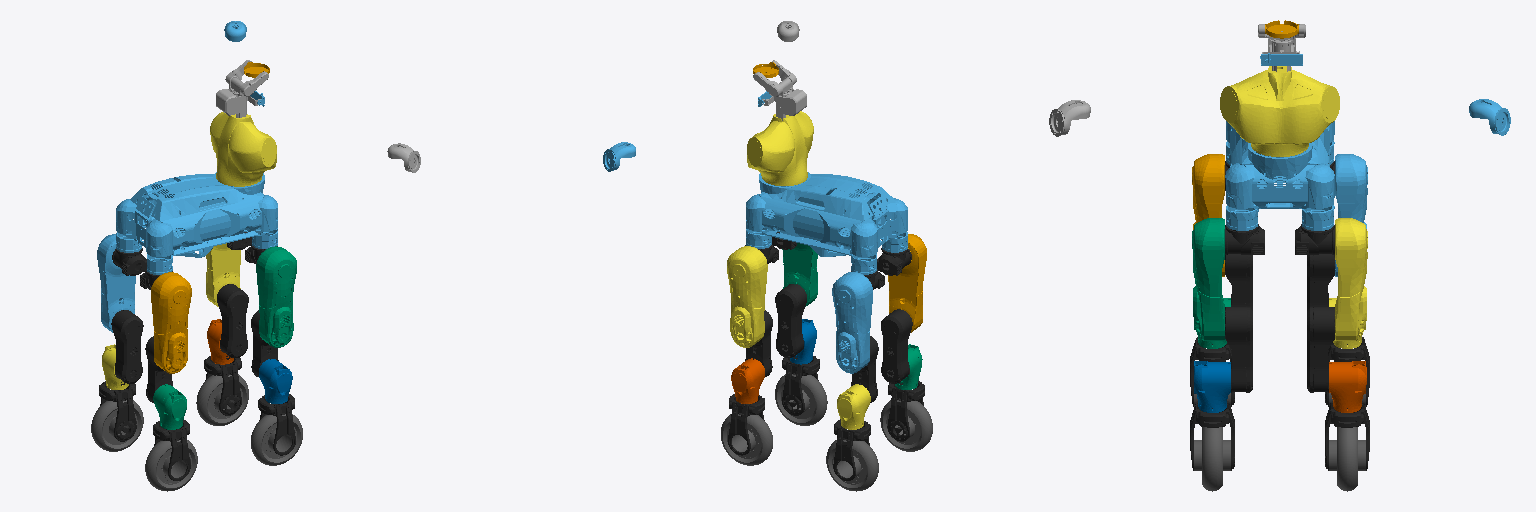
--- What the picture shows (computed from the rendered views, not written in the file) ---
The picture shows the robot from 3 angles, left to right: view 1: azimuth 30°, elevation 25°; view 2: azimuth 150°, elevation 25°; view 3: azimuth 270°, elevation 25°; orthographic projection.
Robot: centauro — 95 links, 94 joints (36 revolute, 4 continuous, 53 fixed, 1 floating); root link world; default pose: joints at zero except 2 at the middle of their limits (j_arm1_2 = 1.73, j_arm2_2 = -1.72).
Visible links, largest first — view 1: pelvis, torso_2, hip2_4, hip2_2, hip2_3, knee_3, knee_1, wheel_4, wheel_2, hip2_1, neck_1, wheel_1 (+13 smaller); view 2: pelvis, torso_2, hip2_1, hip2_3, hip2_4, knee_4, knee_2, wheel_3, wheel_1, hip2_2, neck_1, wheel_4 (+13 smaller); view 3: pelvis, torso_2, hip2_1, hip2_2, knee_1, knee_2, hip2_3, hip2_4, wheel_1, wheel_2, ankle1_1, ankle1_2 (+11 smaller).
Boxes of the visible links, box(x1,y1,x2,y2) form: pelvis: box(116, 172, 277, 274); torso_2: box(210, 112, 276, 186); hip2_4: box(151, 272, 191, 373); hip2_2: box(256, 246, 296, 347); hip2_3: box(97, 234, 135, 332); knee_3: box(111, 310, 143, 383); knee_1: box(217, 284, 248, 357); wheel_4: box(145, 440, 197, 491); wheel_2: box(251, 414, 302, 465); hip2_1: box(206, 243, 240, 306); neck_1: box(216, 60, 268, 117); wheel_1: box(196, 374, 248, 425); pelvis: box(746, 172, 907, 274); torso_2: box(747, 111, 813, 185); hip2_1: box(727, 246, 767, 347); hip2_3: box(832, 272, 872, 373); hip2_4: box(888, 234, 926, 332); knee_4: box(881, 309, 912, 383); knee_2: box(775, 284, 806, 357); wheel_3: box(826, 440, 878, 491); wheel_1: box(721, 414, 772, 465); hip2_2: box(782, 243, 817, 306); neck_1: box(753, 60, 806, 120); wheel_4: box(880, 400, 932, 451); pelvis: box(1225, 121, 1334, 230); torso_2: box(1220, 66, 1339, 156); hip2_1: box(1335, 218, 1367, 340); hip2_2: box(1192, 218, 1224, 340); knee_1: box(1307, 307, 1334, 392); knee_2: box(1225, 307, 1252, 392); hip2_3: box(1335, 154, 1367, 276); hip2_4: box(1192, 154, 1224, 276); wheel_1: box(1329, 427, 1365, 491); wheel_2: box(1194, 427, 1230, 491); ankle1_1: box(1329, 361, 1366, 412); ankle1_2: box(1194, 361, 1230, 412).
Bounding box of the posed robot: 1.02 × 1.52 × 1.7 m (x, y, z).
31 mesh visuals loaded from 25 distinct referenced files (12 binary STL); not drawn: 19 (reference not matched to a file when rendering).

robot.urdf — centauro:
<?xml version="1.0" ?>
<!-- =================================================================================== -->
<!-- |    This document was autogenerated by xacro from centauro.urdf.xacro            | -->
<!-- |    EDITING THIS FILE BY HAND IS NOT RECOMMENDED                                 | -->
<!-- =================================================================================== -->
<robot name="centauro">
  <!-- none, ball, dagana_fixed, dagana -->
  <!-- 
  ROS urdf definition of the CENTAURO humanoid robot by Istituto Italiano di Tecnologia
  
  Author: Enrico Mingo Hoffman
-->
  <!-- scaling facto for available peack torque link side, from 0 to 1 -->
  <material name="black">
    <color rgba="0.4 0.4 0.4 1"/>
  </material>
  <material name="dark">
    <color rgba="0.1 0.1 0.1 1"/>
  </material>
  <material name="dark_grey">
    <color rgba="0.2 0.2 0.2 1"/>
  </material>
  <!-- Note: the "23" suffix denotes the new bigger-size wheel -->
  <!-- ??? -->
  <!-- ??? -->
  <!-- Origin -->
  <!-- <xacro:property name="hip_yaw_lower" value="${[-2.827,-2.583, -2.583 ,-2.827]}"/>
<xacro:property name="hip_yaw_upper" value="${[ 2.583, 2.827,  2.827 , 2.583]}"/> -->
  <link name="base_link"/>
  <link name="pelvis">
    <inertial>
      <origin xyz="-0.0016320207 0.0026534004000000003 0.079167428"/>
      <mass value="26.584529"/>
      <inertia ixx="0.39195477" ixy="0.024781258999999996" ixz="0.017108606999999998" iyy="1.0000708999999999" iyz="0.0052627106000000005" izz="1.0679988999999999"/>
    </inertial>
    <visual>
      <origin rpy="0.0 0.0 0.0" xyz="0.0 0 0.0"/>
      <geometry>
        <mesh filename="package://centauro_urdf/meshes/v2/pelvis.stl" scale="0.001 0.001 0.001"/>
      </geometry>
    </visual>
    <collision>
      <origin rpy="0.0 0.0 0.0" xyz="0.0 0 0.0"/>
      <geometry>
        <mesh filename="package://centauro_urdf/meshes/simple/pelvis.stl" scale="0.001 0.001 0.001"/>
      </geometry>
    </collision>
  </link>
  <link name="imu_link"/>
  <joint name="imu_joint" type="fixed">
    <parent link="pelvis"/>
    <origin rpy="0.0 0.0 0.0" xyz="0.248316 0.0 0.015"/>
    <child link="imu_link"/>
  </joint>
  <joint name="base_joint" type="fixed">
    <parent link="pelvis"/>
    <child link="base_link"/>
    <origin rpy="0 0 0" xyz="0 0 0"/>
  </joint>
  <!-- torso links -->
  <link name="torso_2">
    <inertial>
      <origin xyz="-0.019497794 0.0045317835 0.13768283"/>
      <mass value="12.553731"/>
      <inertia ixx="0.063643392" ixy="8.939e-05" ixz="-0.00086873" iyy="0.02680235" iyz="-4.657e-05" izz="0.04743015"/>
    </inertial>
    <visual>
      <origin rpy="0.0 0.0 0.0" xyz="0.0 0 0.0"/>
      <geometry>
        <mesh filename="package://centauro_urdf/meshes/link1_no_head.stl" scale="0.001 0.001 0.001"/>
      </geometry>
    </visual>
    <collision>
      <origin rpy="0.0 0.0 0.0" xyz="0.0 0 0.0"/>
      <geometry>
        <mesh filename="package://centauro_urdf/meshes/simple/link1_no_head.stl" scale="0.001 0.001 0.001"/>
      </geometry>
    </collision>
  </link>
  <!-- /torso links -->
  <!-- torso joints -->
  <joint name="torso_yaw" type="revolute">
    <parent link="pelvis"/>
    <origin xyz="0.2 0.0 0.256"/>
    <child link="torso_2"/>
    <axis xyz="0 0 1"/>
    <limit effort="147" lower="-2.618" upper="2.618" velocity="5.7"/>
    <!-- TODO -->
  </joint>
  <!-- /torso joints -->
  <!-- /macro arms -->
  <!-- LINKS -->
  <!-- shoulder yaw-roll-->
  <link name="arm1_1">
    <inertial>
      <origin xyz="-0.0074457212 0.03410796 0.00010978102"/>
      <mass value="1.9628675"/>
      <inertia ixx="0.0053547717" ixy="0.00036428926" ixz="1.5089568e-05" iyy="0.0033923328" iyz="5.5692312e-05" izz="0.0068921413"/>
    </inertial>
    <visual>
      <origin rpy="0.0 0.0 0.0" xyz="0.0 0.0 0.0"/>
      <geometry>
        <mesh filename="package://centauro_urdf/meshes/ShoulderPitch.STL" scale="0.001 -0.001 0.001"/>
      </geometry>
      <material name="dark_grey"/>
    </visual>
    <collision>
      <origin rpy="0.0 0.0 0.0" xyz="0.0 0.0 0.0"/>
      <geometry>
        <mesh filename="package://centauro_urdf/meshes/simple/ShoulderPitch.STL" scale="0.001 -0.001 0.001"/>
      </geometry>
    </collision>
  </link>
  <!-- shoulder yaw-roll-->
  <!-- shoulder roll-pitch-->
  <link name="arm1_2">
    <inertial>
      <origin xyz="0.058142302 5.7450803e-05 -0.077477683"/>
      <mass value="1.8595811"/>
      <inertia ixx="0.013776643" ixy="3.7788675e-05" ixz="0.0037690171" iyy="0.015677464" iyz="-9.4893549e-06" izz="0.0046317657"/>
    </inertial>
    <visual>
      <origin rpy="0.0 0.0 0.0" xyz="0.0 0.0 0.0"/>
      <geometry>
        <mesh filename="package://centauro_urdf/meshes/ShoulderRoll.STL" scale="0.001 -0.001 0.001"/>
      </geometry>
    </visual>
    <collision>
      <origin rpy="0.0 0.0 0.0" xyz="0.0 0.0 0.0"/>
      <geometry>
        <mesh filename="package://centauro_urdf/meshes/simple/ShoulderRoll.STL" scale="0.001 -0.001 0.001"/>
      </geometry>
    </collision>
  </link>
  <!-- shoulder roll-pitch-->
  <!-- shoulder-elbow -->
  <link name="arm1_3">
    <inertial>
      <origin xyz="0.014625194 0.0008172672 -0.028333545"/>
      <mass value="1.6678109"/>
      <inertia ixx="0.0064480435" ixy="-0.00015639093" ixz="0.0012205359" iyy="0.0073372077" iyz="8.9941532e-05" izz="0.0036738448"/>
    </inertial>
    <visual>
      <origin rpy="0.0 0.0 0.0" xyz="0.0 0.0 0.0"/>
      <geometry>
        <mesh filename="package://centauro_urdf/meshes/ShoulderYaw.STL" scale="0.001 -0.001 0.001"/>
      </geometry>
      <material name="dark_grey"/>
    </visual>
    <collision>
      <origin rpy="0.0 0.0 0.0" xyz="0.0 0.0 0.0"/>
      <geometry>
        <mesh filename="package://centauro_urdf/meshes/simple/ShoulderYaw.STL" scale="0.001 -0.001 0.001"/>
      </geometry>
    </collision>
  </link>
  <!-- /shoulder-elbow -->
  <!-- elbow yaw-pitch -->
  <link name="arm1_4">
    <inertial>
      <origin xyz="-0.0076833067 -0.040302205 -0.043492779"/>
      <mass value="1.3157289"/>
      <inertia ixx="0.004330394" ixy="-0.00011737391" ixz="-0.00041923199" iyy="0.0038539919" iyz="-0.00079573038" izz="0.0017594689"/>
    </inertial>
    <visual>
      <origin rpy="0.0 0.0 0.0" xyz="0.0 0.0 0.0"/>
      <geometry>
        <mesh filename="package://centauro_urdf/meshes/Elbow.STL" scale="0.001 -0.001 0.001"/>
      </geometry>
    </visual>
    <collision>
      <origin rpy="0.0 0.0 0.0" xyz="0.0 0.0 0.0"/>
      <geometry>
        <mesh filename="package://centauro_urdf/meshes/simple/Elbow.STL" scale="0.001 -0.001 0.001"/>
      </geometry>
    </collision>
  </link>
  <!-- /elbow yaw-pitch -->
  <!-- elbow-wrist -->
  <link name="arm1_5">
    <inertial>
      <origin xyz="-0.00011079615 0.011590836 -0.07816026"/>
      <mass value="1.4908547"/>
      <inertia ixx="0.0085692128" ixy="1.7856252e-05" ixz="1.9379365e-05" iyy="0.0077454159" iyz="-0.00032860094" izz="0.0027441921"/>
    </inertial>
    <visual>
      <origin rpy="0.0 0.0 0.0" xyz="0.0 0.0 0.0"/>
      <geometry>
        <mesh filename="package://centauro_urdf/meshes/Forearm.STL" scale="0.001 -0.001 0.001"/>
      </geometry>
      <material name="dark_grey"/>
    </visual>
    <collision>
      <origin rpy="0.0 0.0 0.0" xyz="0.0 0.0 0.0"/>
      <geometry>
        <mesh filename="package://centauro_urdf/meshes/simple/Forearm.STL" scale="0.001 -0.001 0.001"/>
      </geometry>
    </collision>
  </link>
  <!-- /elbow-wrist -->
  <!-- wrist yaw-pitch -->
  <link name="arm1_6">
    <inertial>
      <origin xyz="-4.6502396e-06 -0.038014094 -0.069926878"/>
      <mass value="1.1263612"/>
      <inertia ixx="0.0051871784" ixy="2.724437e-05" ixz="2.2833496e-06" iyy="0.0048037789" iyz="-0.00072165653" izz="0.0012771388"/>
    </inertial>
    <visual>
      <origin rpy="0.0 0.0 0.0" xyz="0.0 0.0 0.0"/>
      <geometry>
        <mesh filename="package://centauro_urdf/meshes/wrist_pitch_right.stl" scale="0.001 -0.001 0.001"/>
      </geometry>
    </visual>
    <collision>
      <origin rpy="0.0 0.0 0.0" xyz="0.0 0.0 0.0"/>
      <geometry>
        <mesh filename="package://centauro_urdf/meshes/simple/wrist_pitch_right.stl" scale="0.001 -0.001 0.001"/>
      </geometry>
    </collision>
  </link>
  <!-- /wrist yaw-pitch -->
  <!-- <link name="arm${arm_num}_7">
      <inertial>
         <origin xyz="${Wrist_3_x} ${rot*Wrist_3_y} ${Wrist_3_z}"/>
         <mass value="${Wrist_3_mass}"/>
         <inertia ixx="${Wrist_3_xx}" ixy="${rot*Wrist_3_xy}" ixz="${Wrist_3_xz}" iyy="${Wrist_3_yy}" iyz="${rot*Wrist_3_yz}" izz="${Wrist_3_zz}"/>
      </inertial>

      <visual>
         <origin xyz="0.0 0.0 0.0"  rpy="0.0 0.0 0.0"/>
   <geometry>
      <mesh filename="package://centauro_urdf/meshes/ForearmYaw.STL" scale="0.001 ${-rot*0.001} 0.001" />
   </geometry>
         <material name="dark_grey"/>
      </visual>

      <collision>
         <origin xyz="0.0 0.0 0.0"  rpy="0.0 0.0 0.0"/>
   <geometry>
      <mesh filename="package://centauro_urdf/meshes/simple/ForearmYaw.STL" scale="0.001 ${-rot*0.001} 0.001" />
   </geometry>
      </collision>
   </link> -->
  <!-- /LINKS -->
  <!-- JOINTS -->
  <!-- shoulder yaw -->
  <joint name="j_arm1_1" type="revolute">
    <parent link="torso_2"/>
    <child link="arm1_1"/>
    <origin rpy="0.174533 0.0 -0.5235988" xyz="0.0457475 0.169137 0.116626"/>
    <axis xyz="0 1 0"/>
    <limit effort="147.0" lower="-3.312" upper="1.615" velocity="3.86"/>
  </joint>
  <!-- /shoulder yaw -->
  <!-- shoulder roll -->
  <joint name="j_arm1_2" type="revolute">
    <parent link="arm1_1"/>
    <child link="arm1_2"/>
    <origin rpy="-0.1745327 0.0 0.0" xyz="-0.09015 0.062 0.0"/>
    <axis xyz="1 0 0"/>
    <limit effort="147.0" lower="0.02" upper="3.431" velocity="3.86"/>
  </joint>
  <!-- /shoulder roll -->
  <!-- shoulder pitch-->
  <joint name="j_arm1_3" type="revolute">
    <parent link="arm1_2"/>
    <child link="arm1_3"/>
    <origin xyz="0.09015 0.0 -0.21815"/>
    <axis xyz="0 0 1"/>
    <limit effort="147.0" lower="-2.552" upper="2.566" velocity="6.06"/>
  </joint>
  <!-- /shoulder pitch -->
  <!-- elbow yaw -->
  <joint name="j_arm1_4" type="revolute">
    <parent link="arm1_3"/>
    <child link="arm1_4"/>
    <origin xyz="0.045 0.05515 -0.074"/>
    <axis xyz="0 1 0"/>
    <limit effort="147.0" lower="-2.465" upper="0.28" velocity="6.06"/>
  </joint>
  <!-- /elbow yaw -->
  <!-- elbow pitch-->
  <joint name="j_arm1_5" type="revolute">
    <parent link="arm1_4"/>
    <child link="arm1_5"/>
    <origin xyz="-0.015 -0.05515 -0.095"/>
    <axis xyz="0 0 1"/>
    <limit effort="55.0" lower="-2.569" upper="2.562" velocity="11.72"/>
  </joint>
  <!-- /elbow pitch-->
  <!-- wrist yaw-->
  <joint name="j_arm1_6" type="revolute">
    <parent link="arm1_5"/>
    <child link="arm1_6"/>
    <origin xyz="0.0 0.049 -0.156"/>
    <axis xyz="0 1 0"/>
    <limit effort="55.0" lower="-1.529" upper="1.509" velocity="11.72"/>
  </joint>
  <!-- /wrist yaw-->
  <!-- wrist pitch-->
  <!-- <joint name="j_arm${arm_num}_7" type="fixed">
      <parent link="arm${arm_num}_6"/>
      <child link="arm${arm_num}_7"/>
      <origin xyz="${Wrist_3_Ox} ${rot*Wrist_3_Oy} ${Wrist_3_Oz}"/>
      <axis xyz="0 0 1"/>
      <limit lower="${j_arm_7_lower[arm_num-1]}" upper="${j_arm_7_upper[arm_num-1]}" effort="${j_arm_7_torque[arm_num-1]}" velocity="${j_arm_7_velocity[arm_num-1]}"/>
   </joint> -->
  <!-- wrist pitch-->
  <!-- force-troque sensor -->
  <!-- end-effector -->
  <!-- wrist pitch-->
  <!-- <joint name="j_ft_${arm_num}" type="fixed">
      <parent link="arm${arm_num}_7"/>
      <child link="ft_arm${arm_num}"/>
      <origin xyz="${Ft_arm_Ox} ${Ft_arm_Oy} ${Ft_arm_Oz}" rpy="${Ft_arm_roll} ${Ft_arm_pitch} ${Ft_arm_yaw}" />
      <axis xyz="0 0 1"/>
      <limit lower="0.0" upper="0.0" effort="0" velocity="0"/>
   </joint> -->
  <!-- wrist pitch-->
  <!-- <link name="ft_arm${arm_num}">
      <inertial>
         <origin xyz="${Ft_arm_x} ${rot*Ft_arm_y} ${Ft_arm_z}"/>
         <mass value="${Ft_arm_mass}"/>
         <inertia ixx="${Ft_arm_xx}" ixy="${rot*Ft_arm_xy}" ixz="${Ft_arm_xz}" iyy="${Ft_arm_yy}" iyz="${rot*Ft_arm_yz}" izz="${Ft_arm_zz}"/>
      </inertial> -->
  <!--visual>
         <origin xyz="0.0 0.0 0.0"  rpy="${PI} 0.0 0.0"/>
   <geometry>
      <mesh filename="package://centauro_urdf/meshes/Wrist.STL" scale="0.001 ${-rot*0.001} 0.001" />
   </geometry>
      </visual-->
  <!--collision>
         <origin xyz="0.0 0.0 0.0"  rpy="${PI} 0.0 0.0"/>
   <geometry>
      <mesh filename="package://centauro_urdf/meshes/simple/Wrist.STL" scale="0.001 ${-rot*0.001} 0.001" />
   </geometry>
      </collision-->
  <!-- </link> -->
  <!-- LINKS -->
  <!-- shoulder yaw-roll-->
  <link name="arm2_1">
    <inertial>
      <origin xyz="-0.0074457212 -0.03410796 0.00010978102"/>
      <mass value="1.9628675"/>
      <inertia ixx="0.0053547717" ixy="-0.00036428926" ixz="1.5089568e-05" iyy="0.0033923328" iyz="-5.5692312e-05" izz="0.0068921413"/>
    </inertial>
    <visual>
      <origin rpy="0.0 0.0 0.0" xyz="0.0 0.0 0.0"/>
      <geometry>
        <mesh filename="package://centauro_urdf/meshes/ShoulderPitch.STL" scale="0.001 0.001 0.001"/>
      </geometry>
      <material name="dark_grey"/>
    </visual>
    <collision>
      <origin rpy="0.0 0.0 0.0" xyz="0.0 0.0 0.0"/>
      <geometry>
        <mesh filename="package://centauro_urdf/meshes/simple/ShoulderPitch.STL" scale="0.001 0.001 0.001"/>
      </geometry>
    </collision>
  </link>
  <!-- shoulder yaw-roll-->
  <!-- shoulder roll-pitch-->
  <link name="arm2_2">
    <inertial>
      <origin xyz="0.058142302 -5.7450803e-05 -0.077477683"/>
      <mass value="1.8595811"/>
      <inertia ixx="0.013776643" ixy="-3.7788675e-05" ixz="0.0037690171" iyy="0.015677464" iyz="9.4893549e-06" izz="0.0046317657"/>
    </inertial>
    <visual>
      <origin rpy="0.0 0.0 0.0" xyz="0.0 0.0 0.0"/>
      <geometry>
        <mesh filename="package://centauro_urdf/meshes/ShoulderRoll.STL" scale="0.001 0.001 0.001"/>
      </geometry>
    </visual>
    <collision>
      <origin rpy="0.0 0.0 0.0" xyz="0.0 0.0 0.0"/>
      <geometry>
        <mesh filename="package://centauro_urdf/meshes/simple/ShoulderRoll.STL" scale="0.001 0.001 0.001"/>
      </geometry>
    </collision>
  </link>
  <!-- shoulder roll-pitch-->
  <!-- shoulder-elbow -->
  <link name="arm2_3">
    <inertial>
      <origin xyz="0.014625194 -0.0008172672 -0.028333545"/>
      <mass value="1.6678109"/>
      <inertia ixx="0.0064480435" ixy="0.00015639093" ixz="0.0012205359" iyy="0.0073372077" iyz="-8.9941532e-05" izz="0.0036738448"/>
    </inertial>
    <visual>
      <origin rpy="0.0 0.0 0.0" xyz="0.0 0.0 0.0"/>
      <geometry>
        <mesh filename="package://centauro_urdf/meshes/ShoulderYaw.STL" scale="0.001 0.001 0.001"/>
      </geometry>
      <material name="dark_grey"/>
    </visual>
    <collision>
      <origin rpy="0.0 0.0 0.0" xyz="0.0 0.0 0.0"/>
      <geometry>
        <mesh filename="package://centauro_urdf/meshes/simple/ShoulderYaw.STL" scale="0.001 0.001 0.001"/>
      </geometry>
    </collision>
  </link>
  <!-- /shoulder-elbow -->
  <!-- elbow yaw-pitch -->
  <link name="arm2_4">
    <inertial>
      <origin xyz="-0.0076833067 0.040302205 -0.043492779"/>
      <mass value="1.3157289"/>
      <inertia ixx="0.004330394" ixy="0.00011737391" ixz="-0.00041923199" iyy="0.0038539919" iyz="0.00079573038" izz="0.0017594689"/>
    </inertial>
    <visual>
      <origin rpy="0.0 0.0 0.0" xyz="0.0 0.0 0.0"/>
      <geometry>
        <mesh filename="package://centauro_urdf/meshes/Elbow.STL" scale="0.001 0.001 0.001"/>
      </geometry>
    </visual>
    <collision>
      <origin rpy="0.0 0.0 0.0" xyz="0.0 0.0 0.0"/>
      <geometry>
        <mesh filename="package://centauro_urdf/meshes/simple/Elbow.STL" scale="0.001 0.001 0.001"/>
      </geometry>
    </collision>
  </link>
  <!-- /elbow yaw-pitch -->
  <!-- elbow-wrist -->
  <link name="arm2_5">
    <inertial>
      <origin xyz="-0.00011079615 -0.011590836 -0.07816026"/>
      <mass value="1.4908547"/>
      <inertia ixx="0.0085692128" ixy="-1.7856252e-05" ixz="1.9379365e-05" iyy="0.0077454159" iyz="0.00032860094" izz="0.0027441921"/>
    </inertial>
    <visual>
      <origin rpy="0.0 0.0 0.0" xyz="0.0 0.0 0.0"/>
      <geometry>
        <mesh filename="package://centauro_urdf/meshes/Forearm.STL" scale="0.001 0.001 0.001"/>
      </geometry>
      <material name="dark_grey"/>
    </visual>
    <collision>
      <origin rpy="0.0 0.0 0.0" xyz="0.0 0.0 0.0"/>
      <geometry>
        <mesh filename="package://centauro_urdf/meshes/simple/Forearm.STL" scale="0.001 0.001 0.001"/>
      </geometry>
    </collision>
  </link>
  <!-- /elbow-wrist -->
  <!-- wrist yaw-pitch -->
  <link name="arm2_6">
    <inertial>
      <origin xyz="-4.6502396e-06 0.038014094 -0.069926878"/>
      <mass value="1.1263612"/>
      <inertia ixx="0.0051871784" ixy="-2.724437e-05" ixz="2.2833496e-06" iyy="0.0048037789" iyz="0.00072165653" izz="0.0012771388"/>
    </inertial>
    <visual>
      <origin rpy="0.0 0.0 0.0" xyz="0.0 0.0 0.0"/>
      <geometry>
        <mesh filename="package://centauro_urdf/meshes/wrist_pitch_right.stl" scale="0.001 0.001 0.001"/>
      </geometry>
    </visual>
    <collision>
      <origin rpy="0.0 0.0 0.0" xyz="0.0 0.0 0.0"/>
      <geometry>
        <mesh filename="package://centauro_urdf/meshes/simple/wrist_pitch_right.stl" scale="0.001 0.001 0.001"/>
      </geometry>
    </collision>
  </link>
  <!-- /wrist yaw-pitch -->
  <!-- <link name="arm${arm_num}_7">
      <inertial>
         <origin xyz="${Wrist_3_x} ${rot*Wrist_3_y} ${Wrist_3_z}"/>
         <mass value="${Wrist_3_mass}"/>
         <inertia ixx="${Wrist_3_xx}" ixy="${rot*Wrist_3_xy}" ixz="${Wrist_3_xz}" iyy="${Wrist_3_yy}" iyz="${rot*Wrist_3_yz}" izz="${Wrist_3_zz}"/>
      </inertial>

      <visual>
         <origin xyz="0.0 0.0 0.0"  rpy="0.0 0.0 0.0"/>
   <geometry>
      <mesh filename="package://centauro_urdf/meshes/ForearmYaw.STL" scale="0.001 ${-rot*0.001} 0.001" />
   </geometry>
         <material name="dark_grey"/>
      </visual>

      <collision>
         <origin xyz="0.0 0.0 0.0"  rpy="0.0 0.0 0.0"/>
   <geometry>
      <mesh filename="package://centauro_urdf/meshes/simple/ForearmYaw.STL" scale="0.001 ${-rot*0.001} 0.001" />
   </geometry>
      </collision>
   </link> -->
  <!-- /LINKS -->
  <!-- JOINTS -->
  <!-- shoulder yaw -->
  <joint name="j_arm2_1" type="revolute">
    <parent link="torso_2"/>
    <child link="arm2_1"/>
    <origin rpy="-0.174533 0.0 0.5235988" xyz="0.0457475 -0.169137 0.116626"/>
    <axis xyz="0 1 0"/>
    <limit effort="147.0" lower="-3.3458" upper="1.6012" velocity="3.86"/>
  </joint>
  <!-- /shoulder yaw -->
  <!-- shoulder roll -->
  <joint name="j_arm2_2" type="revolute">
    <parent link="arm2_1"/>
    <child link="arm2_2"/>
    <origin rpy="0.1745327 0.0 0.0" xyz="-0.09015 -0.062 0.0"/>
    <axis xyz="1 0 0"/>
    <limit effort="147.0" lower="-3.4258" upper="-0.0138" velocity="3.86"/>
  </joint>
  <!-- /shoulder roll -->
  <!-- shoulder pitch-->
  <joint name="j_arm2_3" type="revolute">
    <parent link="arm2_2"/>
    <child link="arm2_3"/>
    <origin xyz="0.09015 0.0 -0.21815"/>
    <axis xyz="0 0 1"/>
    <limit effort="147.0" lower="-2.5614" upper="2.5606" velocity="6.06"/>
  </joint>
  <!-- /shoulder pitch -->
  <!-- elbow yaw -->
  <joint name="j_arm2_4" type="revolute">
    <parent link="arm2_3"/>
    <child link="arm2_4"/>
    <origin xyz="0.045 -0.05515 -0.074"/>
    <axis xyz="0 1 0"/>
    <limit effort="147.0" lower="-2.4794" upper="0.2886" velocity="6.06"/>
  </joint>
  <!-- /elbow yaw -->
  <!-- elbow pitch-->
  <joint name="j_arm2_5" type="revolute">
    <parent link="arm2_4"/>
    <child link="arm2_5"/>
    <origin xyz="-0.015 0.05515 -0.095"/>
    <axis xyz="0 0 1"/>
    <limit effort="55.0" lower="-2.5394" upper="2.5546" velocity="11.72"/>
  </joint>
  <!-- /elbow pitch-->
  <!-- wrist yaw-->
  <joint name="j_arm2_6" type="revolute">
    <parent link="arm2_5"/>
    <child link="arm2_6"/>
    <origin xyz="0.0 -0.049 -0.156"/>
    <axis xyz="0 1 0"/>
    <limit effort="55.0" lower="-1.5154" upper="1.5156" velocity="11.72"/>
  </joint>
  <!-- /wrist yaw-->
  <!-- wrist pitch-->
  <!-- <joint name="j_arm${arm_num}_7" type="fixed">
      <parent link="arm${arm_num}_6"/>
      <child link="arm${arm_num}_7"/>
      <origin xyz="${Wrist_3_Ox} ${rot*Wrist_3_Oy} ${Wrist_3_Oz}"/>
      <axis xyz="0 0 1"/>
      <limit lower="${j_arm_7_lower[arm_num-1]}" upper="${j_arm_7_upper[arm_num-1]}" effort="${j_arm_7_torque[arm_num-1]}" velocity="${j_arm_7_velocity[arm_num-1]}"/>
   </joint> -->
  <!-- wrist pitch-->
  <!-- force-troque sensor -->
  <!-- end-effector -->
  <!-- wrist pitch-->
  <!-- <joint name="j_ft_${arm_num}" type="fixed">
      <parent link="arm${arm_num}_7"/>
      <child link="ft_arm${arm_num}"/>
      <origin xyz="${Ft_arm_Ox} ${Ft_arm_Oy} ${Ft_arm_Oz}" rpy="${Ft_arm_roll} ${Ft_arm_pitch} ${Ft_arm_yaw}" />
      <axis xyz="0 0 1"/>
      <limit lower="0.0" upper="0.0" effort="0" velocity="0"/>
   </joint> -->
  <!-- wrist pitch-->
  <!-- <link name="ft_arm${arm_num}">
      <inertial>
         <origin xyz="${Ft_arm_x} ${rot*Ft_arm_y} ${Ft_arm_z}"/>
         <mass value="${Ft_arm_mass}"/>
         <inertia ixx="${Ft_arm_xx}" ixy="${rot*Ft_arm_xy}" ixz="${Ft_arm_xz}" iyy="${Ft_arm_yy}" iyz="${rot*Ft_arm_yz}" izz="${Ft_arm_zz}"/>
      </inertial> -->
  <!--visual>
         <origin xyz="0.0 0.0 0.0"  rpy="${PI} 0.0 0.0"/>
   <geometry>
      <mesh filename="package://centauro_urdf/meshes/Wrist.STL" scale="0.001 ${-rot*0.001} 0.001" />
   </geometry>
      </visual-->
  <!--collision>
         <origin xyz="0.0 0.0 0.0"  rpy="${PI} 0.0 0.0"/>
   <geometry>
      <mesh filename="package://centauro_urdf/meshes/simple/Wrist.STL" scale="0.001 ${-rot*0.001} 0.001" />
   </geometry>
      </collision-->
  <!-- </link> -->
  <link name="ball1">
    <inertial>
      <origin rpy="0 0 0" xyz="-1.0072498e-05 3.7590658e-05 0.019772332"/>
      <mass value="1.27"/>
      <inertia ixx="0.0023061092" ixy="2.9181758e-07" ixz="-2.1246683999999997e-07" iyy="0.0023053155000000002" iyz="7.9290978e-07" izz="0.0030675615999999997"/>
    </inertial>
    <visual>
      <origin rpy="0.0 0.0 0.0" xyz="0.0 0.0 0.0"/>
      <geometry name="ball1_visual">
        <mesh filename="package://centauro_urdf/meshes/BallHand.stl" scale="0.001 0.001 0.001"/>
      </geometry>
      <material name="dark_grey"/>
    </visual>
    <collision>
      <origin rpy="0.0 0.0 0.0" xyz="0.0 0.0 0.0"/>
      <geometry name="ball1_collision">
        <mesh filename="package://centauro_urdf/meshes/simple/BallHand.stl" scale="0.001 0.001 0.001"/>
      </geometry>
    </collision>
  </link>
  <link name="ball1_tip"/>
  <joint name="j_arm1_8" type="fixed">
    <parent link="arm1_6"/>
    <child link="ball1"/>
    <origin rpy="0. 0. 0." xyz="0. -0.05 -0.105"/>
  </joint>
  <joint name="j_ball1_tip" type="fixed">
    <parent link="ball1"/>
    <child link="ball1_tip"/>
    <origin rpy="0 0 0" xyz="0 0 -0.07"/>
  </joint>
  <!-- add armX_8 link for legacy reasons (same as ballX) -->
  <joint name="j_ball1_fixed" type="fixed">
    <parent link="ball1"/>
    <child link="arm1_8"/>
  </joint>
  <link name="arm1_8">
    <inertial>
      <mass value="0"/>
      <inertia ixx="0" ixy="0" ixz="0" iyy="0" iyz="0" izz="0"/>
    </inertial>
  </link>
  <joint name="dagana_2_mount_joint" type="fixed">
    <origin rpy="0. 3.14159265359 0" xyz="0. 0.05 -0.08"/>
    <parent link="arm2_6"/>
    <child link="dagana_2_top_link"/>
  </joint>
  <link name="dagana_2_top_link">
    <inertial>
      <origin rpy="0 0 0" xyz="-0.0063562154 -0.0060265532000000005  0.060068288000000004"/>
      <mass value="1.7432400"/>
      <inertia ixx="0.0050510328" ixy="-0.00025264216" ixz="-0.00012103013" iyy="0.0047944612" iyz="-0.00073917704" izz="0.0031156997"/>
    </inertial>
    <visual>
      <origin rpy="0 0 0" xyz="0 0 0"/>
      <geometry>
        <mesh filename="package://dagana_urdf/meshes/dg0001-simplified.stl" scale="0.001 0.001 0.001"/>
      </geometry>
      <material name="dark_grey"/>
    </visual>
    <collision>
      <origin rpy="0 0 0" xyz="0 0 0"/>
      <geometry>
        <mesh filename="package://dagana_urdf/meshes/dg0001-ch.stl" scale="0.001 0.001 0.001"/>
      </geometry>
      <material name="dark_grey"/>
    </collision>
  </link>
  <joint name="dagana_2_claw_joint" type="revolute">
    <origin rpy="1.57079632679 0 3.14159265359" xyz="0.0 -0.028 0.05025"/>
    <parent link="dagana_2_top_link"/>
    <child link="dagana_2_bottom_link"/>
    <axis xyz="-1 0 0"/>
    <limit effort="1000" lower="0" upper="1.3" velocity="10.0"/>
  </joint>
  <link name="dagana_2_bottom_link">
    <inertial>
      <origin rpy="0 0 0" xyz="0 0.069644767 0"/>
      <mass value="4.6117745e-01"/>
      <inertia ixx="0.0014726990999999999" ixy="7.134683e-05" ixz="2.529065e-06" iyy="0.0009385556899999999" iyz="-0.000264452" izz="0.0019472731"/>
    </inertial>
    <visual>
      <origin rpy="0 0 0" xyz="0 0 0"/>
      <geometry>
        <mesh filename="package://dagana_urdf/meshes/dg0002.stl" scale="0.001 0.001 0.001"/>
      </geometry>
      <material name="dark_grey"/>
    </visual>
    <collision>
      <origin rpy="0 0 0" xyz="0 0 0"/>
      <geometry>
        <mesh filename="package://dagana_urdf/meshes/dg0002-ch.stl" scale="0.001 0.001 0.001"/>
      </geometry>
      <material name="dark_grey"/>
    </collision>
  </link>
  <!-- Manually put to have a transform in a "good" grasping spot-->
  <joint name="dagana_2_tcp_joint" type="fixed">
    <origin rpy="0 0 0" xyz="0 -0.05 0.15"/>
    <parent link="dagana_2_top_link"/>
    <child link="dagana_2_tcp"/>
  </joint>
  <link name="dagana_2_tcp"/>
  <!-- add armX_8 link for compliance with srdf file -->
  <joint name="j_dagana_2_final" type="fixed">
    <parent link="dagana_2_bottom_link"/>
    <child link="arm2_8"/>
  </joint>
  <link name="arm2_8">
    <inertial>
      <mass value="0"/>
      <inertia ixx="0" ixy="0" ixz="0" iyy="0" iyz="0" izz="0"/>
    </inertial>
  </link>
  <!-- LINKS -->
  <link name="neck_1">
    <inertial>
      <origin xyz="0 0 0"/>
      <mass value="0.33878686"/>
      <!-- MASS/INERTIA TO DO -->
      <inertia ixx="0.0003718568" ixy="-9.42983e-05" ixz="-2.80644e-05" iyy="0.0001886879" iyz="-1.54534e-05" izz="0.0005023443"/>
    </inertial>
    <visual>
      <origin rpy="0.0 0.0 0.0" xyz="0.0 0 0.0"/>
      <geometry>
        <mesh filename="package://centauro_urdf/meshes/head-base_mesh.stl" scale="0.001 0.001 0.001"/>
      </geometry>
    </visual>
    <collision>
      <origin rpy="0.0 0.0 0.0" xyz="0.0 0 0.0"/>
      <geometry>
        <mesh filename="package://centauro_urdf/meshes/simple/head-base_mesh.stl" scale="0.001 0.001 0.001"/>
      </geometry>
    </collision>
  </link>
  <link name="velodyne_motor">
    <inertial>
      <origin xyz="0 0 0"/>
      <mass value="0.33878686"/>
      <!-- MASS/INERTIA TO DO -->
      <inertia ixx="0.0003718568" ixy="-9.42983e-05" ixz="-2.80644e-05" iyy="0.0001886879" iyz="-1.54534e-05" izz="0.0005023443"/>
    </inertial>
    <visual>
      <origin rpy="0.0 0.0 0.0" xyz="0.0 0 0.0"/>
      <geometry>
        <mesh filename="package://centauro_urdf/meshes/lidar_mesh.stl" scale="0.001 0.001 0.001"/>
      </geometry>
    </visual>
    <collision>
      <origin rpy="0.0 0.0 0.0" xyz="0.0 0 0.0"/>
      <geometry>
        <mesh filename="package://centauro_urdf/meshes/simple/lidar_mesh.stl" scale="0.001 0.001 0.001"/>
      </geometry>
    </collision>
  </link>
  <link name="d435_head_motor">
    <inertial>
      <origin xyz="0 0 0"/>
      <mass value="0.33878686"/>
      <!-- MASS/INERTIA TO DO -->
      <inertia ixx="0.0003718568" ixy="-9.42983e-05" ixz="-2.80644e-05" iyy="0.0001886879" iyz="-1.54534e-05" izz="0.0005023443"/>
    </inertial>
    <visual>
      <origin rpy="0.0 0.0 0.0" xyz="0.0 0 0.0"/>
      <geometry>
        <mesh filename="package://centauro_urdf/meshes/neck-pitch_mesh.stl" scale="0.001 0.001 0.001"/>
      </geometry>
    </visual>
    <collision>
      <origin rpy="0.0 0.0 0.0" xyz="0.0 0 0.0"/>
      <geometry>
        <mesh filename="package://centauro_urdf/meshes/simple/neck-pitch_mesh.stl" scale="0.001 0.001 0.001"/>
      </geometry>
    </collision>
  </link>
  <!--JOINTS -->
  <joint name="neck_base" type="fixed">
    <parent link="torso_2"/>
    <origin rpy="0 0 0" xyz="0.0030637045 0.0061607221 0.158"/>
    <child link="neck_1"/>
    <axis xyz="0 0 1"/>
  </joint>
  <joint name="velodyne_joint" type="revolute">
    <parent link="neck_1"/>
    <origin rpy="0 0 0" xyz="0.0822724 0 0.242"/>
    <child link="velodyne_motor"/>
    <axis xyz="0 -1 0"/>
    <limit effort="35" lower="-1.1" upper="1.1" velocity="5.7"/>
    <dynamics friction="10.0"/>
  </joint>
  <joint name="d435_head_joint" type="revolute">
    <parent link="neck_1"/>
    <origin rpy="0 0 0" xyz="0.06 0 0.1375"/>
    <child link="d435_head_motor"/>
    <axis xyz="0 -1 0"/>
    <limit effort="35" lower="-1.1" upper="1.1" velocity="5.7"/>
    <dynamics friction="10.0"/>
  </joint>
  <material name="D435_head_camera_aluminum">
    <color rgba="0.5 0.5 0.5 1"/>
  </material>
  <!-- camera body, with origin at bottom screw mount -->
  <joint name="D435_head_camera_joint" type="fixed">
    <origin xyz="0.0413 0 -0.016" rpy="0 0.349065 0"/>	<!-- camera mounted on 3d printed 20 deg angle -->
    <parent link="d435_head_motor"/>
    <child link="D435_head_camera_bottom_screw_frame"/>
  </joint>
  <link name="D435_head_camera_bottom_screw_frame"/>
  <joint name="D435_head_camera_link_joint" type="fixed">
    <origin rpy="0 0 0" xyz="0 0.0175 0.0125"/>
    <parent link="D435_head_camera_bottom_screw_frame"/>
    <child link="D435_head_camera_link"/>
  </joint>
  <link name="D435_head_camera_link">
    <visual>
      <origin rpy="1.5707963267948966 0 1.5707963267948966" xyz="0.0149 -0.0175 0"/>
      <geometry>
        <!-- <box size="${d435i_cam_width} ${d435i_cam_height} ${d435i_cam_depth}"/> -->
        <mesh filename="package://realsense2_description/meshes/d435.dae"/>
        <!--<mesh filename="package://realsense2_description/meshes/d435/d435.dae"/>-->
      </geometry>
      <material name="D435_head_camera_aluminum"/>
    </visual>
    <collision>
      <origin rpy="0 0 0" xyz="0 -0.0175 0"/>
      <geometry>
        <box size="0.02505 0.09 0.025"/>
      </geometry>
    </collision>
    <inertial>
      <!-- The following are not reliable values, and should not be used for modeling -->
      <mass value="0.564"/>
      <origin xyz="0 0 0"/>
      <inertia ixx="0.003881243" ixy="0.0" ixz="0.0" iyy="0.000498940" iyz="0.0" izz="0.003879257"/>
    </inertial>
  </link>
  <!-- camera depth joints and links -->
  <joint name="D435_head_camera_depth_joint" type="fixed">
    <origin rpy="0 0 0" xyz="0 0 0"/>
    <parent link="D435_head_camera_link"/>
    <child link="D435_head_camera_depth_frame"/>
  </joint>
  <link name="D435_head_camera_depth_frame"/>
  <joint name="D435_head_camera_depth_optical_joint" type="fixed">
    <origin rpy="-1.5707963267948966 0 -1.5707963267948966" xyz="0 0 0"/>
    <parent link="D435_head_camera_depth_frame"/>
    <child link="D435_head_camera_depth_optical_frame"/>
  </joint>
  <link name="D435_head_camera_depth_optical_frame"/>
  <!-- camera left IR joints and links -->
  <joint name="D435_head_camera_left_ir_joint" type="fixed">
    <origin rpy="0 0 0" xyz="0 0.0 0"/>
    <parent link="D435_head_camera_depth_frame"/>
    <child link="D435_head_camera_left_ir_frame"/>
  </joint>
  <link name="D435_head_camera_left_ir_frame"/>
  <joint name="D435_head_camera_left_ir_optical_joint" type="fixed">
    <origin rpy="-1.5707963267948966 0 -1.5707963267948966" xyz="0 0 0"/>
    <parent link="D435_head_camera_left_ir_frame"/>
    <child link="D435_head_camera_left_ir_optical_frame"/>
  </joint>
  <link name="D435_head_camera_left_ir_optical_frame"/>
  <!-- camera right IR joints and links -->
  <joint name="D435_head_camera_right_ir_joint" type="fixed">
    <origin rpy="0 0 0" xyz="0 -0.05 0"/>
    <parent link="D435_head_camera_depth_frame"/>
    <child link="D435_head_camera_right_ir_frame"/>
  </joint>
  <link name="D435_head_camera_right_ir_frame"/>
  <joint name="D435_head_camera_right_ir_optical_joint" type="fixed">
    <origin rpy="-1.5707963267948966 0 -1.5707963267948966" xyz="0 0 0"/>
    <parent link="D435_head_camera_right_ir_frame"/>
    <child link="D435_head_camera_right_ir_optical_frame"/>
  </joint>
  <link name="D435_head_camera_right_ir_optical_frame"/>
  <!-- camera color joints and links -->
  <joint name="D435_head_camera_color_joint" type="fixed">
    <origin rpy="0 0 0" xyz="0 0.015 0"/>
    <parent link="D435_head_camera_depth_frame"/>
    <child link="D435_head_camera_color_frame"/>
  </joint>
  <link name="D435_head_camera_color_frame"/>
  <joint name="D435_head_camera_color_optical_joint" type="fixed">
    <origin rpy="-1.5707963267948966 0 -1.5707963267948966" xyz="0 0 0"/>
    <parent link="D435_head_camera_color_frame"/>
    <child link="D435_head_camera_color_optical_frame"/>
  </joint>
  <link name="D435_head_camera_color_optical_frame"/>
  <!-- camera accel joints and links -->
  <joint name="D435_head_camera_accel_joint" type="fixed">
    <origin rpy="0 0 0" xyz="-0.00174 0.00552 0.0176"/>
    <parent link="D435_head_camera_link"/>
    <child link="D435_head_camera_accel_frame"/>
  </joint>
  <link name="D435_head_camera_accel_frame"/>
  <joint name="D435_head_camera_accel_optical_joint" type="fixed">
    <origin rpy="-1.5707963267948966 0 -1.5707963267948966" xyz="0 0 0"/>
    <parent link="D435_head_camera_accel_frame"/>
    <child link="D435_head_camera_accel_optical_frame"/>
  </joint>
  <link name="D435_head_camera_accel_optical_frame"/>
  <!-- camera gyro joints and links -->
  <joint name="D435_head_camera_gyro_joint" type="fixed">
    <origin rpy="0 0 0" xyz="-0.00174 0.00552 0.0176"/>
    <parent link="D435_head_camera_link"/>
    <child link="D435_head_camera_gyro_frame"/>
  </joint>
  <link name="D435_head_camera_gyro_frame"/>
  <joint name="D435_head_camera_gyro_optical_joint" type="fixed">
    <origin rpy="-1.5707963267948966 0 -1.5707963267948966" xyz="0 0 0"/>
    <parent link="D435_head_camera_gyro_frame"/>
    <child link="D435_head_camera_gyro_optical_frame"/>
  </joint>
  <link name="D435_head_camera_gyro_optical_frame"/>
  <gazebo reference="D435_head_camera_link">
    <self_collide>0</self_collide>
    <enable_wind>0</enable_wind>
    <kinematic>0</kinematic>
    <!-- <gravity>1</gravity> -->
    <!--<mu>1</mu>-->
    <mu2>1</mu2>
    <fdir1>0 0 0</fdir1>
    <!--<slip1>0</slip1>
      <slip2>0</slip2>-->
    <kp>1e+13</kp>
    <kd>1</kd>
    <!--<max_vel>0.01</max_vel>
      <min_depth>0</min_depth>-->
    <sensor name="D435_head_cameracolor" type="camera">
      <camera name="D435_head_camera">
        <horizontal_fov>1.2112585008840648</horizontal_fov>
        <image>
          <width>1280</width>
          <height>720</height>
          <format>RGB_INT8</format>
        </image>
        <clip>
          <near>0.1</near>
          <far>100</far>
        </clip>
        <noise>
          <type>gaussian</type>
          <mean>0.0</mean>
          <stddev>0.007</stddev>
        </noise>
      </camera>
      <always_on>1</always_on>
      <update_rate>30</update_rate>
      <visualize>False</visualize>
    </sensor>
    <sensor name="D435_head_cameraired1" type="camera">
      <camera name="D435_head_camera">
        <horizontal_fov>1.4870205226991688</horizontal_fov>
        <image>
          <width>1280</width>
          <height>720</height>
          <format>L_INT8</format>
        </image>
        <clip>
          <near>0.1</near>
          <far>100</far>
        </clip>
        <noise>
          <type>gaussian</type>
          <mean>0.0</mean>
          <stddev>0.05</stddev>
        </noise>
      </camera>
      <always_on>1</always_on>
      <update_rate>90</update_rate>
      <visualize>false</visualize>
    </sensor>
    <sensor name="D435_head_cameraired2" type="camera">
      <camera name="D435_head_camera">
        <horizontal_fov>1.4870205226991688</horizontal_fov>
        <image>
          <width>1280</width>
          <height>720</height>
          <format>L_INT8</format>
        </image>
        <clip>
          <near>0.1</near>
          <far>100</far>
        </clip>
        <noise>
          <type>gaussian</type>
          <mean>0.0</mean>
          <stddev>0.05</stddev>
        </noise>
      </camera>
      <always_on>1</always_on>
      <update_rate>90</update_rate>
      <visualize>false</visualize>
    </sensor>
    <sensor name="D435_head_cameradepth" type="depth">
      <camera name="D435_head_camera">
        <horizontal_fov>1.2112585008840648</horizontal_fov>
        <image>
          <width>1280</width>
          <height>720</height>
        </image>
        <clip>
          <near>0.1</near>
          <far>100</far>
        </clip>
        <noise>
          <type>gaussian</type>
          <mean>0.0</mean>
          <stddev>0.100</stddev>
        </noise>
      </camera>
      <always_on>1</always_on>
      <update_rate>30</update_rate>
      <visualize>false</visualize>
    </sensor>
    <sensor name="D435_head_cameraaccel" type="imu">
      <always_on>true</always_on>
      <update_rate>300</update_rate>
      <topic>D435_head_camera/accel/sample</topic>
      <plugin filename="librealsense_gazebo_accel_sensor.so" name="D435_head_camera_accel_plugin">
        <topicName>D435_head_camera/accel/sample</topicName>
        <bodyName>D435_head_camera_link</bodyName>
        <updateRateHZ>300</updateRateHZ>
        <gaussianNoise>0.1</gaussianNoise>
        <xyzOffset>0 0 0</xyzOffset>
        <rpyOffset>0 0 0</rpyOffset>
        <frameName>D435_head_camera_accel_optical_frame</frameName>
        <initialOrientationAsReference>false</initialOrientationAsReference>
      </plugin>
      <pose>0 0 0 0 0 0</pose>
    </sensor>
    <sensor name="D435_head_cameragyro" type="imu">
      <always_on>true</always_on>
      <update_rate>300</update_rate>
      <topic>D435_head_camera/gyro/sample</topic>
      <plugin filename="librealsense_gazebo_gyro_sensor.so" name="D435_head_camera_gyro_plugin">
        <topicName>D435_head_camera/gyro/sample</topicName>
        <bodyName>D435_head_camera_link</bodyName>
        <updateRateHZ>300</updateRateHZ>
        <gaussianNoise>0.1</gaussianNoise>
        <xyzOffset>0 0 0</xyzOffset>
        <rpyOffset>0 0 0</rpyOffset>
        <frameName>D435_head_camera_gyro_optical_frame</frameName>
        <initialOrientationAsReference>false</initialOrientationAsReference>
      </plugin>
    </sensor>
  </gazebo>
  <gazebo>
    <plugin filename="librealsense_gazebo_plugin.so" name="D435_head_camera">
      <prefix>D435_head_camera</prefix>
      <!-- Color camera settings -->
      <colorUpdateRate>30</colorUpdateRate>
      <colorTopicName>color/image_raw</colorTopicName>
      <colorOpticalframeName>D435_head_camera_color_optical_frame</colorOpticalframeName>
      <colorCameraInfoTopicName>color/camera_info</colorCameraInfoTopicName>
      <!-- Infrared camera settings -->
      <infraredUpdateRate>90</infraredUpdateRate>
      <infrared1TopicName>infra1/image_rect_raw</infrared1TopicName>
      <infrared2TopicName>infra2/image_rect_raw</infrared2TopicName>
      <infrared1CameraInfoTopicName>infra1/camera_info</infrared1CameraInfoTopicName>
      <infrared2CameraInfoTopicName>infra2/camera_info</infrared2CameraInfoTopicName>
      <infrared1OpticalframeName>D435_head_camera_left_ir_optical_frame</infrared1OpticalframeName>
      <infrared2OpticalframeName>D435_head_camera_right_ir_optical_frame</infrared2OpticalframeName>
      <!-- Depth camera settings -->
      <rangeMinDepth>0.2</rangeMinDepth>
      <rangeMaxDepth>10.0</rangeMaxDepth>
      <depthUpdateRate>30</depthUpdateRate>
      <depthTopicName>aligned_depth_to_color/image_raw</depthTopicName>
      <depthCameraInfoTopicName>aligned_depth_to_color/camera_info</depthCameraInfoTopicName>
      <depthOpticalframeName>D435_head_camera_color_optical_frame</depthOpticalframeName>
      <!-- Pointlcloud settings -->
      <pointCloud>True</pointCloud>
      <pointCloudTopicName>depth/color/points</pointCloudTopicName>
      <pointCloudCutoff>0.5</pointCloudCutoff>
    </plugin>
  </gazebo>
  <joint name="velodyne_calib_base_mount_joint" type="fixed">
    <origin rpy="0.025 0.019 0" xyz="-0.01 0.02 0.06"/>
    <parent link="velodyne_motor"/>
    <child link="velodyne_calib_base_link"/>
  </joint>
  <link name="velodyne_calib_base_link">
    <inertial>
      <mass value="0.83"/>
      <origin xyz="0 0 0.03585"/>
      <inertia ixx="0.000908059425" ixy="0" ixz="0" iyy="0.000908059425" iyz="0" izz="0.0011049624"/>
    </inertial>
    <visual>
      <geometry>
        <mesh filename="package://velodyne_description/meshes/VLP16_base_1.dae"/>
      </geometry>
    </visual>
    <visual>
      <geometry>
        <mesh filename="package://velodyne_description/meshes/VLP16_base_2.dae"/>
      </geometry>
    </visual>
    <collision>
      <origin rpy="0 0 0" xyz="0 0 0.03585"/>
      <geometry>
        <cylinder length="0.0717" radius="0.0516"/>
      </geometry>
    </collision>
  </link>
  <joint name="velodyne_calib_base_scan_joint" type="fixed">
    <origin rpy="0 0 0" xyz="0 0 0.0377"/>
    <parent link="velodyne_calib_base_link"/>
    <child link="velodyne_calib"/>
  </joint>
  <link name="velodyne_calib">
    <inertial>
      <mass value="0.01"/>
      <origin xyz="0 0 0"/>
      <inertia ixx="1e-7" ixy="0" ixz="0" iyy="1e-7" iyz="0" izz="1e-7"/>
    </inertial>
    <visual>
      <origin xyz="0 0 -0.0377"/>
      <geometry>
        <mesh filename="package://velodyne_description/meshes/VLP16_scan.dae"/>
      </geometry>
    </visual>
    <collision>
      <geometry>
        <sphere radius="0"/>
      </geometry>
    </collision>
  </link>
  <!-- Gazebo requires the velodyne_gazebo_plugins package -->
  <gazebo reference="velodyne_calib">
    <sensor name="velodyne_calib-VLP16" type="ray">
      <pose>0 0 0 0 0 0</pose>
      <visualize>false</visualize>
      <update_rate>10</update_rate>
      <ray>
        <scan>
          <horizontal>
            <samples>440</samples>
            <resolution>1</resolution>
            <min_angle>-3.141592653589793</min_angle>
            <max_angle>3.141592653589793</max_angle>
          </horizontal>
          <vertical>
            <samples>16</samples>
            <resolution>1</resolution>
            <min_angle>-0.2617993877991494</min_angle>
            <max_angle> 0.2617993877991494</max_angle>
          </vertical>
        </scan>
        <range>
          <min>0.3</min>
          <max>131.0</max>
          <resolution>0.001</resolution>
        </range>
        <noise>
          <type>gaussian</type>
          <mean>0.0</mean>
          <stddev>0.0</stddev>
        </noise>
      </ray>
      <plugin filename="libgazebo_ros_velodyne_laser.so" name="gazebo_ros_laser_controller">
        <topicName>/velodyne_points</topicName>
        <frameName>velodyne_calib</frameName>
        <organize_cloud>False</organize_cloud>
        <min_range>0.9</min_range>
        <max_range>130.0</max_range>
        <gaussianNoise>0.008</gaussianNoise>
      </plugin>
    </sensor>
  </gazebo>
  <material name="D435i_camera_aluminum">
    <color rgba="0.5 0.5 0.5 1"/>
  </material>
  <!-- camera body, with origin at bottom screw mount -->
  <joint name="D435i_camera_joint" type="fixed">
    <origin rpy="0 0.54 0" xyz="0.272 0 0.084"/>
    <parent link="pelvis"/>
    <child link="D435i_camera_bottom_screw_frame"/>
  </joint>
  <link name="D435i_camera_bottom_screw_frame"/>
  <joint name="D435i_camera_link_joint" type="fixed">
    <origin rpy="0 0 0" xyz="0 0.0175 0.0125"/>
    <parent link="D435i_camera_bottom_screw_frame"/>
    <child link="D435i_camera_link"/>
  </joint>
  <link name="D435i_camera_link">
    <visual>
      <origin rpy="1.5707963267948966 0 1.5707963267948966" xyz="0.0149 -0.0175 0"/>
      <geometry>
        <!-- <box size="${d435i_cam_width} ${d435i_cam_height} ${d435i_cam_depth}"/> -->
        <mesh filename="package://realsense2_description/meshes/d435.dae"/>
        <!--<mesh filename="package://realsense2_description/meshes/d435/d435.dae"/>-->
      </geometry>
      <material name="D435i_camera_aluminum"/>
    </visual>
    <collision>
      <origin rpy="0 0 0" xyz="0 -0.0175 0"/>
      <geometry>
        <box size="0.02505 0.09 0.025"/>
      </geometry>
    </collision>
    <inertial>
      <!-- The following are not reliable values, and should not be used for modeling -->
      <mass value="0.564"/>
      <origin xyz="0 0 0"/>
      <inertia ixx="0.003881243" ixy="0.0" ixz="0.0" iyy="0.000498940" iyz="0.0" izz="0.003879257"/>
    </inertial>
  </link>
  <!-- camera depth joints and links -->
  <joint name="D435i_camera_depth_joint" type="fixed">
    <origin rpy="0 0 0" xyz="0 0 0"/>
    <parent link="D435i_camera_link"/>
    <child link="D435i_camera_depth_frame"/>
  </joint>
  <link name="D435i_camera_depth_frame"/>
  <joint name="D435i_camera_depth_optical_joint" type="fixed">
    <origin rpy="-1.5707963267948966 0 -1.5707963267948966" xyz="0 0 0"/>
    <parent link="D435i_camera_depth_frame"/>
    <child link="D435i_camera_depth_optical_frame"/>
  </joint>
  <link name="D435i_camera_depth_optical_frame"/>
  <!-- camera left IR joints and links -->
  <joint name="D435i_camera_left_ir_joint" type="fixed">
    <origin rpy="0 0 0" xyz="0 0.0 0"/>
    <parent link="D435i_camera_depth_frame"/>
    <child link="D435i_camera_left_ir_frame"/>
  </joint>
  <link name="D435i_camera_left_ir_frame"/>
  <joint name="D435i_camera_left_ir_optical_joint" type="fixed">
    <origin rpy="-1.5707963267948966 0 -1.5707963267948966" xyz="0 0 0"/>
    <parent link="D435i_camera_left_ir_frame"/>
    <child link="D435i_camera_left_ir_optical_frame"/>
  </joint>
  <link name="D435i_camera_left_ir_optical_frame"/>
  <!-- camera right IR joints and links -->
  <joint name="D435i_camera_right_ir_joint" type="fixed">
    <origin rpy="0 0 0" xyz="0 -0.05 0"/>
    <parent link="D435i_camera_depth_frame"/>
    <child link="D435i_camera_right_ir_frame"/>
  </joint>
  <link name="D435i_camera_right_ir_frame"/>
  <joint name="D435i_camera_right_ir_optical_joint" type="fixed">
    <origin rpy="-1.5707963267948966 0 -1.5707963267948966" xyz="0 0 0"/>
    <parent link="D435i_camera_right_ir_frame"/>
    <child link="D435i_camera_right_ir_optical_frame"/>
  </joint>
  <link name="D435i_camera_right_ir_optical_frame"/>
  <!-- camera color joints and links -->
  <joint name="D435i_camera_color_joint" type="fixed">
    <origin rpy="0 0 0" xyz="0 0.015 0"/>
    <parent link="D435i_camera_depth_frame"/>
    <child link="D435i_camera_color_frame"/>
  </joint>
  <link name="D435i_camera_color_frame"/>
  <joint name="D435i_camera_color_optical_joint" type="fixed">
    <origin rpy="-1.5707963267948966 0 -1.5707963267948966" xyz="0 0 0"/>
    <parent link="D435i_camera_color_frame"/>
    <child link="D435i_camera_color_optical_frame"/>
  </joint>
  <link name="D435i_camera_color_optical_frame"/>
  <!-- camera accel joints and links -->
  <joint name="D435i_camera_accel_joint" type="fixed">
    <origin rpy="0 0 0" xyz="-0.00174 0.00552 0.0176"/>
    <parent link="D435i_camera_link"/>
    <child link="D435i_camera_accel_frame"/>
  </joint>
  <link name="D435i_camera_accel_frame"/>
  <joint name="D435i_camera_accel_optical_joint" type="fixed">
    <origin rpy="-1.5707963267948966 0 -1.5707963267948966" xyz="0 0 0"/>
    <parent link="D435i_camera_accel_frame"/>
    <child link="D435i_camera_accel_optical_frame"/>
  </joint>
  <link name="D435i_camera_accel_optical_frame"/>
  <!-- camera gyro joints and links -->
  <joint name="D435i_camera_gyro_joint" type="fixed">
    <origin rpy="0 0 0" xyz="-0.00174 0.00552 0.0176"/>
    <parent link="D435i_camera_link"/>
    <child link="D435i_camera_gyro_frame"/>
  </joint>
  <link name="D435i_camera_gyro_frame"/>
  <joint name="D435i_camera_gyro_optical_joint" type="fixed">
    <origin rpy="-1.5707963267948966 0 -1.5707963267948966" xyz="0 0 0"/>
    <parent link="D435i_camera_gyro_frame"/>
    <child link="D435i_camera_gyro_optical_frame"/>
  </joint>
  <link name="D435i_camera_gyro_optical_frame"/>
  <gazebo reference="D435i_camera_link">
    <self_collide>0</self_collide>
    <enable_wind>0</enable_wind>
    <kinematic>0</kinematic>
    <!-- <gravity>1</gravity> -->
    <!--<mu>1</mu>-->
    <mu2>1</mu2>
    <fdir1>0 0 0</fdir1>
    <!--<slip1>0</slip1>
      <slip2>0</slip2>-->
    <kp>1e+13</kp>
    <kd>1</kd>
    <!--<max_vel>0.01</max_vel>
      <min_depth>0</min_depth>-->
    <sensor name="D435i_cameracolor" type="camera">
      <camera name="D435i_camera">
        <horizontal_fov>1.2112585008840648</horizontal_fov>
        <image>
          <width>1280</width>
          <height>720</height>
          <format>RGB_INT8</format>
        </image>
        <clip>
          <near>0.1</near>
          <far>100</far>
        </clip>
        <noise>
          <type>gaussian</type>
          <mean>0.0</mean>
          <stddev>0.007</stddev>
        </noise>
      </camera>
      <always_on>1</always_on>
      <update_rate>30</update_rate>
      <visualize>False</visualize>
    </sensor>
    <sensor name="D435i_cameraired1" type="camera">
      <camera name="D435i_camera">
        <horizontal_fov>1.4870205226991688</horizontal_fov>
        <image>
          <width>1280</width>
          <height>720</height>
          <format>L_INT8</format>
        </image>
        <clip>
          <near>0.1</near>
          <far>100</far>
        </clip>
        <noise>
          <type>gaussian</type>
          <mean>0.0</mean>
          <stddev>0.05</stddev>
        </noise>
      </camera>
      <always_on>1</always_on>
      <update_rate>90</update_rate>
      <visualize>false</visualize>
    </sensor>
    <sensor name="D435i_cameraired2" type="camera">
      <camera name="D435i_camera">
        <horizontal_fov>1.4870205226991688</horizontal_fov>
        <image>
          <width>1280</width>
          <height>720</height>
          <format>L_INT8</format>
        </image>
        <clip>
          <near>0.1</near>
          <far>100</far>
        </clip>
        <noise>
          <type>gaussian</type>
          <mean>0.0</mean>
          <stddev>0.05</stddev>
        </noise>
      </camera>
      <always_on>1</always_on>
      <update_rate>90</update_rate>
      <visualize>false</visualize>
    </sensor>
    <sensor name="D435i_cameradepth" type="depth">
      <camera name="D435i_camera">
        <horizontal_fov>1.2112585008840648</horizontal_fov>
        <image>
          <width>1280</width>
          <height>720</height>
        </image>
        <clip>
          <near>0.1</near>
          <far>100</far>
        </clip>
        <noise>
          <type>gaussian</type>
          <mean>0.0</mean>
          <stddev>0.100</stddev>
        </noise>
      </camera>
      <always_on>1</always_on>
      <update_rate>30</update_rate>
      <visualize>false</visualize>
    </sensor>
    <sensor name="D435i_cameraaccel" type="imu">
      <always_on>true</always_on>
      <update_rate>300</update_rate>
      <topic>D435i_camera/accel/sample</topic>
      <plugin filename="librealsense_gazebo_accel_sensor.so" name="D435i_camera_accel_plugin">
        <topicName>D435i_camera/accel/sample</topicName>
        <bodyName>D435i_camera_link</bodyName>
        <updateRateHZ>300</updateRateHZ>
        <gaussianNoise>0.1</gaussianNoise>
        <xyzOffset>0 0 0</xyzOffset>
        <rpyOffset>0 0 0</rpyOffset>
        <frameName>D435i_camera_accel_optical_frame</frameName>
        <initialOrientationAsReference>false</initialOrientationAsReference>
      </plugin>
      <pose>0 0 0 0 0 0</pose>
    </sensor>
    <sensor name="D435i_cameragyro" type="imu">
      <always_on>true</always_on>
      <update_rate>300</update_rate>
      <topic>D435i_camera/gyro/sample</topic>
      <plugin filename="librealsense_gazebo_gyro_sensor.so" name="D435i_camera_gyro_plugin">
        <topicName>D435i_camera/gyro/sample</topicName>
        <bodyName>D435i_camera_link</bodyName>
        <updateRateHZ>300</updateRateHZ>
        <gaussianNoise>0.1</gaussianNoise>
        <xyzOffset>0 0 0</xyzOffset>
        <rpyOffset>0 0 0</rpyOffset>
        <frameName>D435i_camera_gyro_optical_frame</frameName>
        <initialOrientationAsReference>false</initialOrientationAsReference>
      </plugin>
    </sensor>
  </gazebo>
  <gazebo>
    <plugin filename="librealsense_gazebo_plugin.so" name="D435i_camera">
      <prefix>D435i_camera</prefix>
      <!-- Color camera settings -->
      <colorUpdateRate>30</colorUpdateRate>
      <colorTopicName>color/image_raw</colorTopicName>
      <colorOpticalframeName>D435i_camera_color_optical_frame</colorOpticalframeName>
      <colorCameraInfoTopicName>color/camera_info</colorCameraInfoTopicName>
      <!-- Infrared camera settings -->
      <infraredUpdateRate>90</infraredUpdateRate>
      <infrared1TopicName>infra1/image_rect_raw</infrared1TopicName>
      <infrared2TopicName>infra2/image_rect_raw</infrared2TopicName>
      <infrared1CameraInfoTopicName>infra1/camera_info</infrared1CameraInfoTopicName>
      <infrared2CameraInfoTopicName>infra2/camera_info</infrared2CameraInfoTopicName>
      <infrared1OpticalframeName>D435i_camera_left_ir_optical_frame</infrared1OpticalframeName>
      <infrared2OpticalframeName>D435i_camera_right_ir_optical_frame</infrared2OpticalframeName>
      <!-- Depth camera settings -->
      <rangeMinDepth>0.2</rangeMinDepth>
      <rangeMaxDepth>10.0</rangeMaxDepth>
      <depthUpdateRate>30</depthUpdateRate>
      <depthTopicName>aligned_depth_to_color/image_raw</depthTopicName>
      <depthCameraInfoTopicName>aligned_depth_to_color/camera_info</depthCameraInfoTopicName>
      <depthOpticalframeName>D435i_camera_color_optical_frame</depthOpticalframeName>
      <!-- Pointlcloud settings -->
      <pointCloud>True</pointCloud>
      <pointCloudTopicName>depth/color/points</pointCloudTopicName>
      <pointCloudCutoff>0.5</pointCloudCutoff>
    </plugin>
  </gazebo>
  <material name="T265_camera_aluminum">
    <color rgba="0.5 0.5 0.5 1"/>
  </material>
  <!-- camera body, with origin at camera_pose_frame -->
  <joint name="T265_camera_pose_joint" type="fixed">
    <origin rpy="0 0 0" xyz="0.29245 0.00775 0.063"/>
    <parent link="pelvis"/>
    <child link="T265_camera_pose_frame"/>
  </joint>
  <link name="T265_camera_pose_frame">
    <visual>
      <origin rpy="1.5707963267948966 0 1.5707963267948966" xyz="0 0 0"/>
      <geometry>
        <mesh filename="package://realsense_gazebo_description/meshes/t265_full.stl" scale="0.001 0.001 0.001"/>
      </geometry>
      <material name="T265_camera_aluminum"/>
    </visual>
    <collision>
      <origin rpy="1.5707963267948966 0 1.5707963267948966" xyz="0 0 0"/>
      <geometry>
        <mesh filename="package://realsense_gazebo_description/meshes/t265_simplified.stl" scale="0.001 0.001 0.001"/>
      </geometry>
    </collision>
    <inertial>
      <!-- The following are not reliable values, and should not be used for modeling -->
      <mass value="0.068024"/>
      <origin xyz="0 0 0"/>
      <inertia ixx="0.0000039782" ixy="0.0" ixz="0.000000034641" iyy="0.000065045" iyz="0.0" izz="0.000067499"/>
    </inertial>
  </link>
  <!-- camera body, with origin at camera_link -->
  <joint name="T265_camera_link_joint" type="fixed">
    <origin rpy="1.5707963267948966 0 -1.5707963267948966" xyz="0 0 0"/>
    <parent link="T265_camera_pose_frame"/>
    <child link="T265_camera_link"/>
  </joint>
  <link name="T265_camera_link"/>
  <joint name="T265_camera_fisheye1_rgb_joint" type="fixed">
    <origin rpy="0 1.5707963267948966 1.5707963267948966" xyz="-0.0411 0.0 0.0"/>
    <parent link="T265_camera_link"/>
    <child link="T265_camera_fisheye1_rgb_frame"/>
  </joint>
  <link name="T265_camera_fisheye1_rgb_frame"/>
  <joint name="T265_camera_fisheye2_rgb_joint" type="fixed">
    <origin rpy="0 1.5707963267948966 1.5707963267948966" xyz="0.0229 0.0 0.0"/>
    <parent link="T265_camera_link"/>
    <child link="T265_camera_fisheye2_rgb_frame"/>
  </joint>
  <link name="T265_camera_fisheye2_rgb_frame"/>
  <joint name="T265_camera_fisheye1_optical_joint" type="fixed">
    <origin rpy="-1.5707963267948966 0 -1.5707963267948966" xyz="0 0 0"/>
    <parent link="T265_camera_fisheye1_rgb_frame"/>
    <child link="T265_camera_fisheye1_optical_frame"/>
  </joint>
  <link name="T265_camera_fisheye1_optical_frame"/>
  <joint name="T265_camera_fisheye2_optical_joint" type="fixed">
    <origin rpy="-1.5707963267948966 0 -1.5707963267948966" xyz="0 0 0"/>
    <parent link="T265_camera_fisheye2_rgb_frame"/>
    <child link="T265_camera_fisheye2_optical_frame"/>
  </joint>
  <link name="T265_camera_fisheye2_optical_frame"/>
  <!-- IMU joints and links -->
  <joint name="T265_camera_accel_joint" type="fixed">
    <origin rpy="0 3.141592653589793 0" xyz="-0.0311 0 0.00655"/>
    <parent link="T265_camera_link"/>
    <child link="T265_camera_accel_frame"/>
  </joint>
  <link name="T265_camera_accel_frame"/>
  <joint name="T265_camera_accel_optical_joint" type="fixed">
    <origin rpy="0 3.141592653589793 0" xyz="-0.0311 0 0.00655"/>
    <parent link="T265_camera_accel_frame"/>
    <child link="T265_camera_accel_optical_frame"/>
  </joint>
  <link name="T265_camera_accel_optical_frame"/>
  <joint name="T265_camera_gyro_joint" type="fixed">
    <origin rpy="0 3.141592653589793 0" xyz="-0.0311 0 0.00655"/>
    <parent link="T265_camera_link"/>
    <child link="T265_camera_gyro_frame"/>
  </joint>
  <link name="T265_camera_gyro_frame"/>
  <joint name="T265_camera_gyro_optical_joint" type="fixed">
    <origin rpy="0 0 0" xyz="0 0 0"/>
    <parent link="T265_camera_gyro_frame"/>
    <child link="T265_camera_gyro_optical_frame"/>
  </joint>
  <link name="T265_camera_gyro_optical_frame"/>
  <!-- Load parameters to model's main link-->
  <gazebo reference="T265_camera_fisheye1_rgb_frame">
    <self_collide>0</self_collide>
    <enable_wind>0</enable_wind>
    <kinematic>0</kinematic>
    <!-- <gravity>1</gravity> -->
    <!--<mu>1</mu>-->
    <mu2>1</mu2>
    <fdir1>0 0 0</fdir1>
    <!--<slip1>0</slip1>
      <slip2>0</slip2>-->
    <kp>1e+13</kp>
    <kd>1</kd>
    <!--<max_vel>0.01</max_vel>
      <min_depth>0</min_depth>-->
    <sensor name="T265_camerafisheye1" type="wideanglecamera">
      <!-- <origin xyz="0 0 0" rpy="0 ${M_PI/2} 0"/> -->
      <update_rate>30</update_rate>
      <camera>
        <horizontal_fov>1.95</horizontal_fov>
        <image>
          <width>848</width>
          <height>800</height>
        </image>
        <clip>
          <near>0.2</near>
          <far>100</far>
        </clip>
        <lens>
          <!-- type element is mandatory -->
          <type>orthographic</type>
          <!-- if it is set to `true` your horizontal FOV will remain as defined -->
          <!-- othervise it depends on lens type and custom function, if there is one -->
          <scale_to_hfov>true</scale_to_hfov>
          <!-- clip everything that is outside of this angle -->
          <!-- eye balled value for these cameras-->
          <cutoff_angle>2.20</cutoff_angle>
          <!-- resolution of the cubemap texture, the highter it is - the sharper is your image -->
          <env_texture_size>1024</env_texture_size>
        </lens>
      </camera>
      <plugin filename="libgazebo_ros_camera.so" name="T265_camerafisheye1">
        <alwaysOn>true</alwaysOn>
        <updateRate>30</updateRate>
        <cameraName>T265/T265_camera/fisheye1</cameraName>
        <imageTopicName>image_raw</imageTopicName>
        <cameraInfoTopicName>camera_info</cameraInfoTopicName>
        <frameName>T265_camera_fisheye1_optical_frame</frameName>
        <hackBaseline>0.07</hackBaseline>
        <distortionK1>-0.00040996368625201285</distortionK1>
        <distortionK2>0.03653175011277199</distortionK2>
        <distortionK3>0.0</distortionK3>
        <distortionP1>-0.034823670983314514</distortionP1>
        <distortionP2>0.0052825710736215115</distortionP2>
        <Cx>416.22</Cx>
        <Cy>402.1</Cy>
        <CxPrime>416.22</CxPrime>
      </plugin>
    </sensor>
  </gazebo>
  <gazebo reference="T265_camera_fisheye2_rgb_frame">
    <self_collide>0</self_collide>
    <enable_wind>0</enable_wind>
    <kinematic>0</kinematic>
    <!-- <gravity>1</gravity> -->
    <!--<mu>1</mu>-->
    <mu2>1</mu2>
    <fdir1>0 0 0</fdir1>
    <!--<slip1>0</slip1>
      <slip2>0</slip2>-->
    <kp>1e+13</kp>
    <kd>1</kd>
    <!--<max_vel>0.01</max_vel>
      <min_depth>0</min_depth>-->
    <sensor name="T265_camerafisheye2" type="wideanglecamera">
      <!-- <origin xyz="0 0 0" rpy="0 ${M_PI/2} 0"/> -->
      <update_rate>30</update_rate>
      <camera>
        <horizontal_fov>2.84</horizontal_fov>
        <image>
          <width>848</width>
          <height>800</height>
        </image>
        <clip>
          <near>0.1</near>
          <far>100</far>
        </clip>
        <lens>
          <!-- type element is mandatory -->
          <type>orthographic</type>
          <!-- if it is set to `true` your horizontal FOV will remain as defined -->
          <!-- othervise it depends on lens type and custom function, if there is one -->
          <scale_to_hfov>true</scale_to_hfov>
          <!-- clip everything that is outside of this angle -->
          <!-- eye balled value for these cameras-->
          <cutoff_angle>2.20</cutoff_angle>
          <!-- resolution of the cubemap texture, the highter it is - the sharper is your image -->
          <env_texture_size>1024</env_texture_size>
        </lens>
      </camera>
      <always_on>1</always_on>
      <plugin filename="libgazebo_ros_camera.so" name="T265_camerafisheye2">
        <alwaysOn>true</alwaysOn>
        <updateRate>30</updateRate>
        <cameraName>T265/T265_camera/fisheye2</cameraName>
        <imageTopicName>image_raw</imageTopicName>
        <cameraInfoTopicName>camera_info</cameraInfoTopicName>
        <frameName>T265_camera_fisheye2_optical_frame</frameName>
        <hackBaseline>0.07</hackBaseline>
        <distortionK1>-0.00040996368625201285</distortionK1>
        <distortionK2>0.03653175011277199</distortionK2>
        <distortionK3>0.0</distortionK3>
        <distortionP1>-0.034823670983314514</distortionP1>
        <distortionP2>0.0052825710736215115</distortionP2>
      </plugin>
    </sensor>
    <sensor name="T265_cameraaccel" type="imu">
      <always_on>true</always_on>
      <update_rate>62.5</update_rate>
      <plugin filename="librealsense_gazebo_accel_sensor.so" name="T265/T265_camera_accel_plugin">
        <topicName>T265_camera/accel/sample</topicName>
        <bodyName>T265_camera_pose_frame</bodyName>
        <updateRateHZ>62.5</updateRateHZ>
        <gaussianNoise>0.1</gaussianNoise>
        <xyzOffset>0 0 0</xyzOffset>
        <rpyOffset>0 0 0</rpyOffset>
        <frameName>T265_camera_accel_optical_frame</frameName>
        <initialOrientationAsReference>false</initialOrientationAsReference>
      </plugin>
      <pose>0 0 0 0 0 0</pose>
    </sensor>
    <sensor name="T265_cameragyro" type="imu">
      <always_on>true</always_on>
      <update_rate>200</update_rate>
      <topic>T265/T265_camera/gyro/sample</topic>
      <plugin filename="librealsense_gazebo_gyro_sensor.so" name="T265/T265_camera_gyro_plugin">
        <topicName>T265_camera/gyro/sample</topicName>
        <bodyName>T265_camera_pose_frame</bodyName>
        <updateRateHZ>200</updateRateHZ>
        <gaussianNoise>0.1</gaussianNoise>
        <xyzOffset>0 0 0</xyzOffset>
        <rpyOffset>0 0 0</rpyOffset>
        <frameName>T265_camera_gyro_optical_frame</frameName>
        <initialOrientationAsReference>false</initialOrientationAsReference>
      </plugin>
    </sensor>
  </gazebo>
  <gazebo>
    <!-- Odom from SLAM -->
    <plugin filename="libgazebo_ros_p3d.so" name="p3d_base_controller">
      <alwaysOn>true</alwaysOn>
      <updateRate>262</updateRate>
      <bodyName>T265_camera_pose_frame</bodyName>
      <topicName>T265/T265_camera/odom/sample</topicName>
      <gaussianNoise>0.01</gaussianNoise>
      <frameName>world</frameName>
      <xyzOffsets>0.0 0.0 0.25</xyzOffsets>
      <rpyOffsets>0.0 0.0 0.0</rpyOffsets>
    </plugin>
  </gazebo>
  <!-- /macro centauro_wheel -->
  <!-- /macro arms -->
  <!-- /macro legs -->
  <link name="hip1_1">
    <inertial>
      <origin xyz="0.0003595855 0.033338818000000006 -0.059190309"/>
      <mass value="2.3349153"/>
      <!-- org: 2 -->
      <inertia ixx="0.0068405374" ixy="1.8572633e-05" ixz="-4.8325972e-05" iyy="0.0026261815" iyz="0.0001564273" izz="0.0066933354"/>
    </inertial>
    <visual>
      <origin rpy="0.0 0.0 0.0" xyz="0.0 0.0 0.0"/>
      <geometry>
        <mesh filename="package://centauro_urdf/meshes/v2/hip-yaw.stl" scale="0.001 -0.001 0.001"/>
      </geometry>
      <material name="dark_grey"/>
    </visual>
    <collision>
      <origin rpy="0.0 0.0 0.0" xyz="0.0 0.0 0.0"/>
      <geometry>
        <mesh filename="package://centauro_urdf/meshes/v2/collision/hip-yaw.stl" scale="0.001 -0.001 0.001"/>
      </geometry>
    </collision>
  </link>
  <link name="hip2_1">
    <inertial>
      <origin xyz="-4.6285952e-06 -0.2214019 0.03316685"/>
      <mass value="3.4572118"/>
      <!-- org: 4.5 -->
      <inertia ixx="0.050469853" ixy="-7.784938699999999e-06" ixz="-9.220580999999999e-06" iyy="0.008181596999999999" iyz="0.0059796848" izz="0.048213808999999996"/>
    </inertial>
    <visual>
      <origin rpy="0.0 0.0 0.0" xyz="0.0 0.0 0.0"/>
      <geometry>
        <mesh filename="package://centauro_urdf/meshes/v2/hip-pitch.stl" scale="0.001 0.001 -0.001"/>
      </geometry>
    </visual>
    <collision>
      <origin rpy="0.0 0.0 0.0" xyz="0.0 0.0 0.0"/>
      <geometry>
        <mesh filename="package://centauro_urdf/meshes/v2/collision/hip-pitch.stl" scale="0.001 0.001 -0.001"/>
      </geometry>
    </collision>
  </link>
  <link name="knee_1">
    <inertial>
      <origin xyz="0.00012063381 0.14620674 0.029740711000000003"/>
      <mass value="2.1199315"/>
      <!-- org: 3.5, foot un modeled-->
      <inertia ixx="0.018426402999999997" ixy="2.8226635999999997e-05" ixz="-2.9204348e-05" iyy="0.0047685615" iyz="-0.002640771" izz="0.017793722"/>
    </inertial>
    <visual>
      <origin rpy="0.0 0.0 0.0" xyz="0.0 0.0 0.0"/>
      <geometry>
        <mesh filename="package://centauro_urdf/meshes/v2/knee.stl" scale="0.001 0.001 -0.001"/>
      </geometry>
      <material name="dark_grey"/>
    </visual>
    <collision>
      <origin rpy="0.0 0.0 0.0" xyz="0.0 0.0 0.0"/>
      <geometry>
        <mesh filename="package://centauro_urdf/meshes/v2/collision/knee.stl" scale="0.001 0.001 -0.001"/>
      </geometry>
    </collision>
  </link>
  <link name="ankle1_1">
    <inertial>
      <origin xyz="0.00012360094 -0.06274712 -0.0049068453"/>
      <mass value="1.4023368"/>
      <!-- org: 3.5, foot un modeled-->
      <inertia ixx="0.0049928829" ixy="5.762355699999999e-06" ixz="1.9606394e-05" iyy="0.0017621464" iyz="0.00045315091" izz="0.0048706328"/>
    </inertial>
    <visual>
      <origin rpy="0.0 0.0 0.0" xyz="0.0 0.0 0.0"/>
      <geometry>
        <mesh filename="package://centauro_urdf/meshes/v2/ankle-pitch.stl" scale="0.001 0.001 -0.001"/>
      </geometry>
    </visual>
    <collision>
      <origin rpy="0.0 0.0 0.0" xyz="0.0 0.0 0.0"/>
      <geometry>
        <mesh filename="package://centauro_urdf/meshes/v2/collision/ankle-pitch.stl" scale="0.001 0.001 -0.001"/>
      </geometry>
    </collision>
  </link>
  <link name="ankle2_1">
    <inertial>
      <origin xyz="0.00018512273 0.0017369405000000001 -0.091340683"/>
      <mass value="2.440929"/>
      <!-- org: 3.5, foot un modeled-->
      <inertia ixx="0.017711499" ixy="1.0713141e-05" ixz="-2.2094697e-05" iyy="0.014263485" iyz="0.00033426702" izz="0.0080747557"/>
    </inertial>
    <visual>
      <origin rpy="0.0 0.0 0.0" xyz="0.0 0.0 0.0"/>
      <geometry>
        <mesh filename="package://centauro_urdf/meshes/v2/mesh_ankle-yaw_wheel23.stl" scale="0.001 -0.001 0.001"/>
      </geometry>
      <material name="dark_grey"/>
    </visual>
    <collision>
      <origin rpy="0.0 0.0 0.0" xyz="0.0 0.0 0.0"/>
      <geometry>
        <mesh filename="package://centauro_urdf/meshes/v2/collision/mesh_ankle-yaw_wheel23.stl" scale="0.001 -0.001 0.001"/>
      </geometry>
    </collision>
  </link>
  <joint name="j_wheel_1" type="continuous">
    <parent link="ankle2_1"/>
    <child link="wheel_1"/>
    <origin rpy="1.57079632679 0.0 0.0" xyz="0.0 -0.0 -0.14435"/>
    <axis xyz="0 0 -1"/>
    <limit effort="35" velocity="20.0"/>
    <!-- 23 Nm, 1
            rad/s-->
  </joint>
  <link name="wheel_1">
    <inertial>
      <origin xyz="0.0 0.0 0.00015403767"/>
      <mass value="1.8569388"/>
      <inertia ixx="0.008637359099999999" ixy="0.0" ixz="-0.0" iyy="0.0086373644" iyz="-0.0" izz="0.016376551"/>
    </inertial>
    <visual>
      <origin rpy="0.0 0.0 0.0" xyz="0.0 0.0 0.0"/>
      <geometry>
        <mesh filename="package://centauro_urdf/meshes/v2/mesh_wheel23.stl" scale="0.001 0.001 -0.001"/>
      </geometry>
      <material name="black"/>
    </visual>
    <collision>
      <origin rpy="0 0 0" xyz="0 0 0"/>
      <geometry>
        <mesh filename="package://centauro_urdf/meshes/v2/collision/mesh_wheel23.stl" scale="0.001 0.001 -0.001"/>
      </geometry>
      <material name="black"/>
    </collision>
  </link>
  <!-- *********** CONTACT FRAME ******************-->
  <link name="contact_1"/>
  <joint name="contact_joint_1" type="fixed">
    <parent link="ankle2_1"/>
    <child link="contact_1"/>
    <origin rpy="0 0 0" xyz="0 0 -0.26835"/>
  </joint>
  <!-- ******************************** -->
  <joint name="hip_yaw_1" type="revolute">
    <parent link="pelvis"/>
    <child link="hip1_1"/>
    <origin rpy="0.0 0.0 0.0" xyz="0.25 0.125 -0.056600000000000004"/>
    <axis xyz="0 0 -1"/>
    <limit effort="304" lower="-2.03" upper="2.51" velocity="8.8"/>
    <!-- 200 Nm, 1 rad/s-->
  </joint>
  <joint name="hip_pitch_1" type="revolute">
    <parent link="hip1_1"/>
    <child link="hip2_1"/>
    <origin rpy="1.57079632679 0.0 0.0" xyz="0.0 0.1146 -0.0625"/>
    <axis xyz="0 0 -1"/>
    <limit effort="304" lower="-2.0226" upper="2.02748" velocity="8.8"/>
    <!-- 200 Nm, 1 rad/s-->
  </joint>
  <joint name="knee_pitch_1" type="revolute">
    <parent link="hip2_1"/>
    <child link="knee_1"/>
    <origin rpy="3.14159265359 0.0 0.0" xyz="0.0 -0.3 0.1182"/>
    <axis xyz="0 0 -1"/>
    <limit effort="304" lower="-2.4056" upper="2.3994" velocity="8.8"/>
    <!-- 200 Nm, 1 rad/s-->
  </joint>
  <joint name="ankle_pitch_1" type="revolute">
    <parent link="knee_1"/>
    <child link="ankle1_1"/>
    <origin rpy="3.14159265359 0.0 0.0" xyz="0.0 0.2 0.10015"/>
    <axis xyz="0 0 -1"/>
    <limit effort="147" lower="-2.4056" upper="2.3184" velocity="8.1"/>
    <!-- 98 Nm, 1 rad/s-->
  </joint>
  <joint name="ankle_yaw_1" type="revolute">
    <parent link="ankle1_1"/>
    <child link="ankle2_1"/>
    <origin rpy="-1.57079632679 0.0 0.0" xyz="0.0 -0.139 -0.00085"/>
    <axis xyz="0 0 -1"/>
    <limit effort="35" lower="-2.5626" upper="2.5384" velocity="20.0"/>
    <!-- 23 Nm, 1 rad/s-->
  </joint>
  <link name="hip1_2">
    <inertial>
      <origin xyz="0.0003595855 -0.033338818000000006 -0.059190309"/>
      <mass value="2.3349153"/>
      <!-- org: 2 -->
      <inertia ixx="0.0068405374" ixy="-1.8572633e-05" ixz="-4.8325972e-05" iyy="0.0026261815" iyz="-0.0001564273" izz="0.0066933354"/>
    </inertial>
    <visual>
      <origin rpy="0.0 0.0 0.0" xyz="0.0 0.0 0.0"/>
      <geometry>
        <mesh filename="package://centauro_urdf/meshes/v2/hip-yaw.stl" scale="0.001 0.001 0.001"/>
      </geometry>
      <material name="dark_grey"/>
    </visual>
    <collision>
      <origin rpy="0.0 0.0 0.0" xyz="0.0 0.0 0.0"/>
      <geometry>
        <mesh filename="package://centauro_urdf/meshes/v2/collision/hip-yaw.stl" scale="0.001 0.001 0.001"/>
      </geometry>
    </collision>
  </link>
  <link name="hip2_2">
    <inertial>
      <origin xyz="-4.6285952e-06 -0.2214019 -0.03316685"/>
      <mass value="3.4572118"/>
      <!-- org: 4.5 -->
      <inertia ixx="0.050469853" ixy="-7.784938699999999e-06" ixz="9.220580999999999e-06" iyy="0.008181596999999999" iyz="-0.0059796848" izz="0.048213808999999996"/>
    </inertial>
    <visual>
      <origin rpy="0.0 0.0 0.0" xyz="0.0 0.0 0.0"/>
      <geometry>
        <mesh filename="package://centauro_urdf/meshes/v2/hip-pitch.stl" scale="0.001 0.001 0.001"/>
      </geometry>
    </visual>
    <collision>
      <origin rpy="0.0 0.0 0.0" xyz="0.0 0.0 0.0"/>
      <geometry>
        <mesh filename="package://centauro_urdf/meshes/v2/collision/hip-pitch.stl" scale="0.001 0.001 0.001"/>
      </geometry>
    </collision>
  </link>
  <link name="knee_2">
    <inertial>
      <origin xyz="0.00012063381 0.14620674 -0.029740711000000003"/>
      <mass value="2.1199315"/>
      <!-- org: 3.5, foot un modeled-->
      <inertia ixx="0.018426402999999997" ixy="2.8226635999999997e-05" ixz="2.9204348e-05" iyy="0.0047685615" iyz="0.002640771" izz="0.017793722"/>
    </inertial>
    <visual>
      <origin rpy="0.0 0.0 0.0" xyz="0.0 0.0 0.0"/>
      <geometry>
        <mesh filename="package://centauro_urdf/meshes/v2/knee.stl" scale="0.001 0.001 0.001"/>
      </geometry>
      <material name="dark_grey"/>
    </visual>
    <collision>
      <origin rpy="0.0 0.0 0.0" xyz="0.0 0.0 0.0"/>
      <geometry>
        <mesh filename="package://centauro_urdf/meshes/v2/collision/knee.stl" scale="0.001 0.001 0.001"/>
      </geometry>
    </collision>
  </link>
  <link name="ankle1_2">
    <inertial>
      <origin xyz="0.00012360094 -0.06274712 0.0049068453"/>
      <mass value="1.4023368"/>
      <!-- org: 3.5, foot un modeled-->
      <inertia ixx="0.0049928829" ixy="5.762355699999999e-06" ixz="-1.9606394e-05" iyy="0.0017621464" iyz="-0.00045315091" izz="0.0048706328"/>
    </inertial>
    <visual>
      <origin rpy="0.0 0.0 0.0" xyz="0.0 0.0 0.0"/>
      <geometry>
        <mesh filename="package://centauro_urdf/meshes/v2/ankle-pitch.stl" scale="0.001 0.001 0.001"/>
      </geometry>
    </visual>
    <collision>
      <origin rpy="0.0 0.0 0.0" xyz="0.0 0.0 0.0"/>
      <geometry>
        <mesh filename="package://centauro_urdf/meshes/v2/collision/ankle-pitch.stl" scale="0.001 0.001 0.001"/>
      </geometry>
    </collision>
  </link>
  <link name="ankle2_2">
    <inertial>
      <origin xyz="0.00018512273 -0.0017369405000000001 -0.091340683"/>
      <mass value="2.440929"/>
      <!-- org: 3.5, foot un modeled-->
      <inertia ixx="0.017711499" ixy="-1.0713141e-05" ixz="-2.2094697e-05" iyy="0.014263485" iyz="-0.00033426702" izz="0.0080747557"/>
    </inertial>
    <visual>
      <origin rpy="0.0 0.0 0.0" xyz="0.0 0.0 0.0"/>
      <geometry>
        <mesh filename="package://centauro_urdf/meshes/v2/mesh_ankle-yaw_wheel23.stl" scale="0.001 0.001 0.001"/>
      </geometry>
      <material name="dark_grey"/>
    </visual>
    <collision>
      <origin rpy="0.0 0.0 0.0" xyz="0.0 0.0 0.0"/>
      <geometry>
        <mesh filename="package://centauro_urdf/meshes/v2/collision/mesh_ankle-yaw_wheel23.stl" scale="0.001 0.001 0.001"/>
      </geometry>
    </collision>
  </link>
  <joint name="j_wheel_2" type="continuous">
    <parent link="ankle2_2"/>
    <child link="wheel_2"/>
    <origin rpy="1.57079632679 0.0 0.0" xyz="0.0 0.0 -0.14435"/>
    <axis xyz="0 0 1"/>
    <limit effort="35" velocity="20.0"/>
    <!-- 23 Nm, 1
            rad/s-->
  </joint>
  <link name="wheel_2">
    <inertial>
      <origin xyz="0.0 0.0 -0.00015403767"/>
      <mass value="1.8569388"/>
      <inertia ixx="0.008637359099999999" ixy="0.0" ixz="0.0" iyy="0.0086373644" iyz="0.0" izz="0.016376551"/>
    </inertial>
    <visual>
      <origin rpy="0.0 0.0 0.0" xyz="0.0 0.0 0.0"/>
      <geometry>
        <mesh filename="package://centauro_urdf/meshes/v2/mesh_wheel23.stl" scale="0.001 0.001 0.001"/>
      </geometry>
      <material name="black"/>
    </visual>
    <collision>
      <origin rpy="0 0 0" xyz="0 0 0"/>
      <geometry>
        <mesh filename="package://centauro_urdf/meshes/v2/collision/mesh_wheel23.stl" scale="0.001 0.001 0.001"/>
      </geometry>
      <material name="black"/>
    </collision>
  </link>
  <!-- *********** CONTACT FRAME ******************-->
  <link name="contact_2"/>
  <joint name="contact_joint_2" type="fixed">
    <parent link="ankle2_2"/>
    <child link="contact_2"/>
    <origin rpy="0 0 0" xyz="0 0 -0.26835"/>
  </joint>
  <!-- ******************************** -->
  <joint name="hip_yaw_2" type="revolute">
    <parent link="pelvis"/>
    <child link="hip1_2"/>
    <origin rpy="0.0 0.0 0.0" xyz="0.25 -0.125 -0.056600000000000004"/>
    <axis xyz="0 0 -1"/>
    <limit effort="304" lower="-2.51" upper="2.03" velocity="8.8"/>
    <!-- 200 Nm, 1 rad/s-->
  </joint>
  <joint name="hip_pitch_2" type="revolute">
    <parent link="hip1_2"/>
    <child link="hip2_2"/>
    <origin rpy="1.57079632679 0.0 0.0" xyz="0.0 -0.1146 -0.0625"/>
    <axis xyz="0 0 1"/>
    <limit effort="304" lower="-2.0156" upper="2.0354" velocity="8.8"/>
    <!-- 200 Nm, 1 rad/s-->
  </joint>
  <joint name="knee_pitch_2" type="revolute">
    <parent link="hip2_2"/>
    <child link="knee_2"/>
    <origin rpy="3.14159265359 0.0 0.0" xyz="0.0 -0.3 -0.1182"/>
    <axis xyz="0 0 1"/>
    <limit effort="304" lower="-2.4006" upper="2.4034" velocity="8.8"/>
    <!-- 200 Nm, 1 rad/s-->
  </joint>
  <joint name="ankle_pitch_2" type="revolute">
    <parent link="knee_2"/>
    <child link="ankle1_2"/>
    <origin rpy="3.14159265359 0.0 0.0" xyz="0.0 0.2 -0.10015"/>
    <axis xyz="0 0 1"/>
    <limit effort="147" lower="-2.3266" upper="2.3914" velocity="8.1"/>
    <!-- 98 Nm, 1 rad/s-->
  </joint>
  <joint name="ankle_yaw_2" type="revolute">
    <parent link="ankle1_2"/>
    <child link="ankle2_2"/>
    <origin rpy="-1.57079632679 0.0 0.0" xyz="0.0 -0.139 0.00085"/>
    <axis xyz="0 0 -1"/>
    <limit effort="35" lower="-2.5546" upper="2.5484" velocity="20.0"/>
    <!-- 23 Nm, 1 rad/s-->
  </joint>
  <link name="hip1_3">
    <inertial>
      <origin xyz="0.0003595855 0.033338818000000006 -0.059190309"/>
      <mass value="2.3349153"/>
      <!-- org: 2 -->
      <inertia ixx="0.0068405374" ixy="1.8572633e-05" ixz="-4.8325972e-05" iyy="0.0026261815" iyz="0.0001564273" izz="0.0066933354"/>
    </inertial>
    <visual>
      <origin rpy="0.0 0.0 0.0" xyz="0.0 0.0 0.0"/>
      <geometry>
        <mesh filename="package://centauro_urdf/meshes/v2/hip-yaw.stl" scale="0.001 -0.001 0.001"/>
      </geometry>
      <material name="dark_grey"/>
    </visual>
    <collision>
      <origin rpy="0.0 0.0 0.0" xyz="0.0 0.0 0.0"/>
      <geometry>
        <mesh filename="package://centauro_urdf/meshes/v2/collision/hip-yaw.stl" scale="0.001 -0.001 0.001"/>
      </geometry>
    </collision>
  </link>
  <link name="hip2_3">
    <inertial>
      <origin xyz="-4.6285952e-06 -0.2214019 0.03316685"/>
      <mass value="3.4572118"/>
      <!-- org: 4.5 -->
      <inertia ixx="0.050469853" ixy="-7.784938699999999e-06" ixz="-9.220580999999999e-06" iyy="0.008181596999999999" iyz="0.0059796848" izz="0.048213808999999996"/>
    </inertial>
    <visual>
      <origin rpy="0.0 0.0 0.0" xyz="0.0 0.0 0.0"/>
      <geometry>
        <mesh filename="package://centauro_urdf/meshes/v2/hip-pitch.stl" scale="0.001 0.001 -0.001"/>
      </geometry>
    </visual>
    <collision>
      <origin rpy="0.0 0.0 0.0" xyz="0.0 0.0 0.0"/>
      <geometry>
        <mesh filename="package://centauro_urdf/meshes/v2/collision/hip-pitch.stl" scale="0.001 0.001 -0.001"/>
      </geometry>
    </collision>
  </link>
  <link name="knee_3">
    <inertial>
      <origin xyz="0.00012063381 0.14620674 0.029740711000000003"/>
      <mass value="2.1199315"/>
      <!-- org: 3.5, foot un modeled-->
      <inertia ixx="0.018426402999999997" ixy="2.8226635999999997e-05" ixz="-2.9204348e-05" iyy="0.0047685615" iyz="-0.002640771" izz="0.017793722"/>
    </inertial>
    <visual>
      <origin rpy="0.0 0.0 0.0" xyz="0.0 0.0 0.0"/>
      <geometry>
        <mesh filename="package://centauro_urdf/meshes/v2/knee.stl" scale="0.001 0.001 -0.001"/>
      </geometry>
      <material name="dark_grey"/>
    </visual>
    <collision>
      <origin rpy="0.0 0.0 0.0" xyz="0.0 0.0 0.0"/>
      <geometry>
        <mesh filename="package://centauro_urdf/meshes/v2/collision/knee.stl" scale="0.001 0.001 -0.001"/>
      </geometry>
    </collision>
  </link>
  <link name="ankle1_3">
    <inertial>
      <origin xyz="0.00012360094 -0.06274712 -0.0049068453"/>
      <mass value="1.4023368"/>
      <!-- org: 3.5, foot un modeled-->
      <inertia ixx="0.0049928829" ixy="5.762355699999999e-06" ixz="1.9606394e-05" iyy="0.0017621464" iyz="0.00045315091" izz="0.0048706328"/>
    </inertial>
    <visual>
      <origin rpy="0.0 0.0 0.0" xyz="0.0 0.0 0.0"/>
      <geometry>
        <mesh filename="package://centauro_urdf/meshes/v2/ankle-pitch.stl" scale="0.001 0.001 -0.001"/>
      </geometry>
    </visual>
    <collision>
      <origin rpy="0.0 0.0 0.0" xyz="0.0 0.0 0.0"/>
      <geometry>
        <mesh filename="package://centauro_urdf/meshes/v2/collision/ankle-pitch.stl" scale="0.001 0.001 -0.001"/>
      </geometry>
    </collision>
  </link>
  <link name="ankle2_3">
    <inertial>
      <origin xyz="0.00018512273 0.0017369405000000001 -0.091340683"/>
      <mass value="2.440929"/>
      <!-- org: 3.5, foot un modeled-->
      <inertia ixx="0.017711499" ixy="1.0713141e-05" ixz="-2.2094697e-05" iyy="0.014263485" iyz="0.00033426702" izz="0.0080747557"/>
    </inertial>
    <visual>
      <origin rpy="0.0 0.0 0.0" xyz="0.0 0.0 0.0"/>
      <geometry>
        <mesh filename="package://centauro_urdf/meshes/v2/mesh_ankle-yaw_wheel23.stl" scale="0.001 -0.001 0.001"/>
      </geometry>
      <material name="dark_grey"/>
    </visual>
    <collision>
      <origin rpy="0.0 0.0 0.0" xyz="0.0 0.0 0.0"/>
      <geometry>
        <mesh filename="package://centauro_urdf/meshes/v2/collision/mesh_ankle-yaw_wheel23.stl" scale="0.001 -0.001 0.001"/>
      </geometry>
    </collision>
  </link>
  <joint name="j_wheel_3" type="continuous">
    <parent link="ankle2_3"/>
    <child link="wheel_3"/>
    <origin rpy="1.57079632679 0.0 0.0" xyz="0.0 -0.0 -0.14435"/>
    <axis xyz="0 0 -1"/>
    <limit effort="35" velocity="20.0"/>
    <!-- 23 Nm, 1
            rad/s-->
  </joint>
  <link name="wheel_3">
    <inertial>
      <origin xyz="0.0 0.0 0.00015403767"/>
      <mass value="1.8569388"/>
      <inertia ixx="0.008637359099999999" ixy="0.0" ixz="-0.0" iyy="0.0086373644" iyz="-0.0" izz="0.016376551"/>
    </inertial>
    <visual>
      <origin rpy="0.0 0.0 0.0" xyz="0.0 0.0 0.0"/>
      <geometry>
        <mesh filename="package://centauro_urdf/meshes/v2/mesh_wheel23.stl" scale="0.001 0.001 -0.001"/>
      </geometry>
      <material name="black"/>
    </visual>
    <collision>
      <origin rpy="0 0 0" xyz="0 0 0"/>
      <geometry>
        <mesh filename="package://centauro_urdf/meshes/v2/collision/mesh_wheel23.stl" scale="0.001 0.001 -0.001"/>
      </geometry>
      <material name="black"/>
    </collision>
  </link>
  <!-- *********** CONTACT FRAME ******************-->
  <link name="contact_3"/>
  <joint name="contact_joint_3" type="fixed">
    <parent link="ankle2_3"/>
    <child link="contact_3"/>
    <origin rpy="0 0 0" xyz="0 0 -0.26835"/>
  </joint>
  <!-- ******************************** -->
  <joint name="hip_yaw_3" type="revolute">
    <parent link="pelvis"/>
    <child link="hip1_3"/>
    <origin rpy="0.0 0.0 0.0" xyz="-0.25 0.125 -0.056600000000000004"/>
    <axis xyz="0 0 -1"/>
    <limit effort="304" lower="-2.51" upper="2.03" velocity="8.8"/>
    <!-- 200 Nm, 1 rad/s-->
  </joint>
  <joint name="hip_pitch_3" type="revolute">
    <parent link="hip1_3"/>
    <child link="hip2_3"/>
    <origin rpy="1.57079632679 0.0 0.0" xyz="0.0 0.1146 -0.0625"/>
    <axis xyz="0 0 -1"/>
    <limit effort="304" lower="-2.0126" upper="2.0384" velocity="8.8"/>
    <!-- 200 Nm, 1 rad/s-->
  </joint>
  <joint name="knee_pitch_3" type="revolute">
    <parent link="hip2_3"/>
    <child link="knee_3"/>
    <origin rpy="3.14159265359 0.0 0.0" xyz="0.0 -0.3 0.1182"/>
    <axis xyz="0 0 -1"/>
    <limit effort="304" lower="-2.4056" upper="2.4064" velocity="8.8"/>
    <!-- 200 Nm, 1 rad/s-->
  </joint>
  <joint name="ankle_pitch_3" type="revolute">
    <parent link="knee_3"/>
    <child link="ankle1_3"/>
    <origin rpy="3.14159265359 0.0 0.0" xyz="0.0 0.2 0.10015"/>
    <axis xyz="0 0 -1"/>
    <limit effort="147" lower="-2.4696" upper="2.4464" velocity="8.1"/>
    <!-- 98 Nm, 1 rad/s-->
  </joint>
  <joint name="ankle_yaw_3" type="revolute">
    <parent link="ankle1_3"/>
    <child link="ankle2_3"/>
    <origin rpy="-1.57079632679 0.0 0.0" xyz="0.0 -0.139 -0.00085"/>
    <axis xyz="0 0 -1"/>
    <limit effort="35" lower="-2.5606" upper="2.5454" velocity="20.0"/>
    <!-- 23 Nm, 1 rad/s-->
  </joint>
  <link name="hip1_4">
    <inertial>
      <origin xyz="0.0003595855 -0.033338818000000006 -0.059190309"/>
      <mass value="2.3349153"/>
      <!-- org: 2 -->
      <inertia ixx="0.0068405374" ixy="-1.8572633e-05" ixz="-4.8325972e-05" iyy="0.0026261815" iyz="-0.0001564273" izz="0.0066933354"/>
    </inertial>
    <visual>
      <origin rpy="0.0 0.0 0.0" xyz="0.0 0.0 0.0"/>
      <geometry>
        <mesh filename="package://centauro_urdf/meshes/v2/hip-yaw.stl" scale="0.001 0.001 0.001"/>
      </geometry>
      <material name="dark_grey"/>
    </visual>
    <collision>
      <origin rpy="0.0 0.0 0.0" xyz="0.0 0.0 0.0"/>
      <geometry>
        <mesh filename="package://centauro_urdf/meshes/v2/collision/hip-yaw.stl" scale="0.001 0.001 0.001"/>
      </geometry>
    </collision>
  </link>
  <link name="hip2_4">
    <inertial>
      <origin xyz="-4.6285952e-06 -0.2214019 -0.03316685"/>
      <mass value="3.4572118"/>
      <!-- org: 4.5 -->
      <inertia ixx="0.050469853" ixy="-7.784938699999999e-06" ixz="9.220580999999999e-06" iyy="0.008181596999999999" iyz="-0.0059796848" izz="0.048213808999999996"/>
    </inertial>
    <visual>
      <origin rpy="0.0 0.0 0.0" xyz="0.0 0.0 0.0"/>
      <geometry>
        <mesh filename="package://centauro_urdf/meshes/v2/hip-pitch.stl" scale="0.001 0.001 0.001"/>
      </geometry>
    </visual>
    <collision>
      <origin rpy="0.0 0.0 0.0" xyz="0.0 0.0 0.0"/>
      <geometry>
        <mesh filename="package://centauro_urdf/meshes/v2/collision/hip-pitch.stl" scale="0.001 0.001 0.001"/>
      </geometry>
    </collision>
  </link>
  <link name="knee_4">
    <inertial>
      <origin xyz="0.00012063381 0.14620674 -0.029740711000000003"/>
      <mass value="2.1199315"/>
      <!-- org: 3.5, foot un modeled-->
      <inertia ixx="0.018426402999999997" ixy="2.8226635999999997e-05" ixz="2.9204348e-05" iyy="0.0047685615" iyz="0.002640771" izz="0.017793722"/>
    </inertial>
    <visual>
      <origin rpy="0.0 0.0 0.0" xyz="0.0 0.0 0.0"/>
      <geometry>
        <mesh filename="package://centauro_urdf/meshes/v2/knee.stl" scale="0.001 0.001 0.001"/>
      </geometry>
      <material name="dark_grey"/>
    </visual>
    <collision>
      <origin rpy="0.0 0.0 0.0" xyz="0.0 0.0 0.0"/>
      <geometry>
        <mesh filename="package://centauro_urdf/meshes/v2/collision/knee.stl" scale="0.001 0.001 0.001"/>
      </geometry>
    </collision>
  </link>
  <link name="ankle1_4">
    <inertial>
      <origin xyz="0.00012360094 -0.06274712 0.0049068453"/>
      <mass value="1.4023368"/>
      <!-- org: 3.5, foot un modeled-->
      <inertia ixx="0.0049928829" ixy="5.762355699999999e-06" ixz="-1.9606394e-05" iyy="0.0017621464" iyz="-0.00045315091" izz="0.0048706328"/>
    </inertial>
    <visual>
      <origin rpy="0.0 0.0 0.0" xyz="0.0 0.0 0.0"/>
      <geometry>
        <mesh filename="package://centauro_urdf/meshes/v2/ankle-pitch.stl" scale="0.001 0.001 0.001"/>
      </geometry>
    </visual>
    <collision>
      <origin rpy="0.0 0.0 0.0" xyz="0.0 0.0 0.0"/>
      <geometry>
        <mesh filename="package://centauro_urdf/meshes/v2/collision/ankle-pitch.stl" scale="0.001 0.001 0.001"/>
      </geometry>
    </collision>
  </link>
  <link name="ankle2_4">
    <inertial>
      <origin xyz="0.00018512273 -0.0017369405000000001 -0.091340683"/>
      <mass value="2.440929"/>
      <!-- org: 3.5, foot un modeled-->
      <inertia ixx="0.017711499" ixy="-1.0713141e-05" ixz="-2.2094697e-05" iyy="0.014263485" iyz="-0.00033426702" izz="0.0080747557"/>
    </inertial>
    <visual>
      <origin rpy="0.0 0.0 0.0" xyz="0.0 0.0 0.0"/>
      <geometry>
        <mesh filename="package://centauro_urdf/meshes/v2/mesh_ankle-yaw_wheel23.stl" scale="0.001 0.001 0.001"/>
      </geometry>
      <material name="dark_grey"/>
    </visual>
    <collision>
      <origin rpy="0.0 0.0 0.0" xyz="0.0 0.0 0.0"/>
      <geometry>
        <mesh filename="package://centauro_urdf/meshes/v2/collision/mesh_ankle-yaw_wheel23.stl" scale="0.001 0.001 0.001"/>
      </geometry>
    </collision>
  </link>
  <joint name="j_wheel_4" type="continuous">
    <parent link="ankle2_4"/>
    <child link="wheel_4"/>
    <origin rpy="1.57079632679 0.0 0.0" xyz="0.0 0.0 -0.14435"/>
    <axis xyz="0 0 1"/>
    <limit effort="35" velocity="20.0"/>
    <!-- 23 Nm, 1
            rad/s-->
  </joint>
  <link name="wheel_4">
    <inertial>
      <origin xyz="0.0 0.0 -0.00015403767"/>
      <mass value="1.8569388"/>
      <inertia ixx="0.008637359099999999" ixy="0.0" ixz="0.0" iyy="0.0086373644" iyz="0.0" izz="0.016376551"/>
    </inertial>
    <visual>
      <origin rpy="0.0 0.0 0.0" xyz="0.0 0.0 0.0"/>
      <geometry>
        <mesh filename="package://centauro_urdf/meshes/v2/mesh_wheel23.stl" scale="0.001 0.001 0.001"/>
      </geometry>
      <material name="black"/>
    </visual>
    <collision>
      <origin rpy="0 0 0" xyz="0 0 0"/>
      <geometry>
        <mesh filename="package://centauro_urdf/meshes/v2/collision/mesh_wheel23.stl" scale="0.001 0.001 0.001"/>
      </geometry>
      <material name="black"/>
    </collision>
  </link>
  <!-- *********** CONTACT FRAME ******************-->
  <link name="contact_4"/>
  <joint name="contact_joint_4" type="fixed">
    <parent link="ankle2_4"/>
    <child link="contact_4"/>
    <origin rpy="0 0 0" xyz="0 0 -0.26835"/>
  </joint>
  <!-- ******************************** -->
  <joint name="hip_yaw_4" type="revolute">
    <parent link="pelvis"/>
    <child link="hip1_4"/>
    <origin rpy="0.0 0.0 0.0" xyz="-0.25 -0.125 -0.056600000000000004"/>
    <axis xyz="0 0 -1"/>
    <limit effort="304" lower="-2.03" upper="2.51" velocity="8.8"/>
    <!-- 200 Nm, 1 rad/s-->
  </joint>
  <joint name="hip_pitch_4" type="revolute">
    <parent link="hip1_4"/>
    <child link="hip2_4"/>
    <origin rpy="1.57079632679 0.0 0.0" xyz="0.0 -0.1146 -0.0625"/>
    <axis xyz="0 0 1"/>
    <limit effort="304" lower="-2.0326" upper="2.0524" velocity="8.8"/>
    <!-- 200 Nm, 1 rad/s-->
  </joint>
  <joint name="knee_pitch_4" type="revolute">
    <parent link="hip2_4"/>
    <child link="knee_4"/>
    <origin rpy="3.14159265359 0.0 0.0" xyz="0.0 -0.3 -0.1182"/>
    <axis xyz="0 0 1"/>
    <limit effort="304" lower="-2.4176" upper="2.3884" velocity="8.8"/>
    <!-- 200 Nm, 1 rad/s-->
  </joint>
  <joint name="ankle_pitch_4" type="revolute">
    <parent link="knee_4"/>
    <child link="ankle1_4"/>
    <origin rpy="3.14159265359 0.0 0.0" xyz="0.0 0.2 -0.10015"/>
    <axis xyz="0 0 1"/>
    <limit effort="147" lower="-2.3426" upper="2.3934" velocity="8.1"/>
    <!-- 98 Nm, 1 rad/s-->
  </joint>
  <joint name="ankle_yaw_4" type="revolute">
    <parent link="ankle1_4"/>
    <child link="ankle2_4"/>
    <origin rpy="-1.57079632679 0.0 0.0" xyz="0.0 -0.139 0.00085"/>
    <axis xyz="0 0 -1"/>
    <limit effort="35" lower="-2.6046" upper="2.5514" velocity="20.0"/>
    <!-- 23 Nm, 1 rad/s-->
  </joint>
  <!-- ************ Control frames ************ -->
  <link name="world"/>
  <joint name="reference" type="floating">
    <parent link="world"/>
    <child link="pelvis"/>
  </joint>
</robot>
